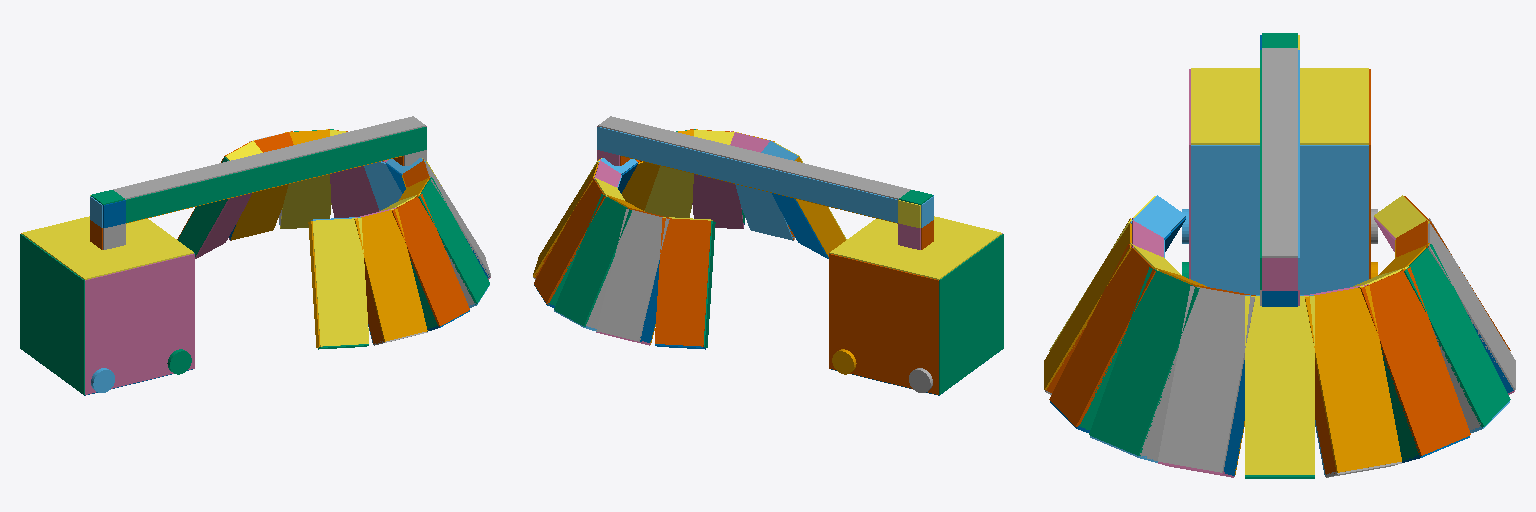
--- Facts derived from the render (not from the file) ---
The picture shows the robot from 3 angles, left to right: view 1: azimuth 30°, elevation 25°; view 2: azimuth 150°, elevation 25°; view 3: azimuth 270°, elevation 25°; orthographic projection.
Robot: robot — 111 links, 110 joints (1 continuous, 109 fixed); root link body; default pose: every joint at zero.
Links seen in each view (by area): view 1: body_sensor_0_right, body_sensor_0_stop, arm_sensor_0_right, hand_part_11_sensor_0_left, hand_part_12_sensor_0_left, body_sensor_0_top, hand_part_13_sensor_0_left, arm_sensor_0_top, hand_part_14_sensor_0_left, hand_part_3_sensor_0_right, hand_part_2_sensor_0_right, hand_part_4_sensor_0_right (+7 smaller); view 2: body_sensor_0_left, body_sensor_0_stop, arm_sensor_0_left, hand_part_5_sensor_0_left, hand_part_4_sensor_0_left, body_sensor_0_top, hand_part_3_sensor_0_left, arm_sensor_0_top, hand_part_2_sensor_0_left, hand_part_13_sensor_0_right, hand_part_14_sensor_0_right, hand_part_12_sensor_0_right (+7 smaller); view 3: body_sensor_0_start, hand_part_0_sensor_0_left, hand_part_1_sensor_0_left, hand_part_15_sensor_0_left, body_sensor_0_top, hand_part_2_sensor_0_left, hand_part_14_sensor_0_left, arm_sensor_0_top, hand_part_3_sensor_0_left, hand_part_13_sensor_0_left, hand_part_4_sensor_0_left, hand_part_12_sensor_0_left (+13 smaller).
Boxes of the visible links, x1,y1,x2,y2 form: body_sensor_0_right: (85, 254, 194, 394); body_sensor_0_stop: (20, 234, 84, 394); arm_sensor_0_right: (126, 127, 426, 222); hand_part_11_sensor_0_left: (313, 218, 368, 346); hand_part_12_sensor_0_left: (354, 209, 427, 341); body_sensor_0_top: (22, 216, 193, 279); hand_part_13_sensor_0_left: (392, 194, 469, 326); arm_sensor_0_top: (113, 116, 425, 199); hand_part_14_sensor_0_left: (418, 177, 489, 304); hand_part_3_sensor_0_right: (280, 174, 331, 228); hand_part_2_sensor_0_right: (330, 166, 379, 217); hand_part_4_sensor_0_right: (231, 184, 288, 240); body_sensor_0_left: (829, 254, 938, 394); body_sensor_0_stop: (939, 234, 1003, 394); arm_sensor_0_left: (597, 127, 897, 222); hand_part_5_sensor_0_left: (655, 218, 710, 346); hand_part_4_sensor_0_left: (596, 209, 669, 341); body_sensor_0_top: (830, 216, 1001, 279); hand_part_3_sensor_0_left: (554, 194, 631, 326); arm_sensor_0_top: (598, 116, 910, 199); hand_part_2_sensor_0_left: (534, 177, 605, 304); hand_part_13_sensor_0_right: (692, 174, 743, 228); hand_part_14_sensor_0_right: (644, 166, 693, 217); hand_part_12_sensor_0_right: (735, 184, 793, 240); body_sensor_0_start: (1191, 145, 1368, 294); hand_part_0_sensor_0_left: (1245, 296, 1314, 474); hand_part_1_sensor_0_left: (1305, 286, 1401, 472); hand_part_15_sensor_0_left: (1158, 286, 1254, 472); body_sensor_0_top: (1191, 68, 1368, 144); hand_part_2_sensor_0_left: (1360, 267, 1470, 455); hand_part_14_sensor_0_left: (1089, 267, 1199, 455); arm_sensor_0_top: (1262, 48, 1297, 257); hand_part_3_sensor_0_left: (1404, 244, 1510, 427); hand_part_13_sensor_0_left: (1049, 244, 1155, 426); hand_part_4_sensor_0_left: (1428, 218, 1515, 389); hand_part_12_sensor_0_left: (1044, 218, 1131, 389).
Size in the robot's own frame: 3.8 by 2.63 by 1.42 metres.
Geometry: primitives only (box / cylinder / sphere), no mesh files.

The robot description file, URDF, robot "robot":
<?xml version="1.0"?>
    <robot name="robot">


    <!-- body -->
    <link name="body">
        <inertial>
            <origin xyz="0 0 0" rpy="0 0 0"/>
            <mass value="100"/>
            <inertia ixx="15" ixy="0" ixz="0" iyy="15" iyz="0" izz="15"/>
        </inertial>
        <visual>
            <origin xyz="0 0 0" rpy="0 0 0"/>
            <geometry>
                <box size="1 1 1"/>
            </geometry>
        </visual>
        <collision>
            <origin xyz="0 0 0" rpy="0 0 0"/>
            <geometry>
                <box size="1 1 1"/>
            </geometry>
        </collision>
    </link>


    <!-- body_sensor_0_start -->
    <link name="body_sensor_0_start">
        <inertial>
            <origin xyz="0 0 0" rpy="0 0 0"/>
            <mass value="0"/>
            <inertia ixx="0" ixy="0" ixz="0" iyy="0" iyz="0" izz="0"/>
        </inertial>
        <visual>
            <origin xyz="0 0 0" rpy="0 0 0"/>
            <geometry>
                <box size="0.02 1 1"/>
            </geometry>
        </visual>
        <collision>
            <origin xyz="0 0 0" rpy="0 0 0"/>
            <geometry>
                <box size="0.02 1 1"/>
            </geometry>
        </collision>
    </link>
    <!-- Joint: body, body_sensor_0_start -->
    <joint name="body_body_sensor_0_start_joint" type="fixed">
        <parent link="body"/>
        <child link="body_sensor_0_start"/>
        <origin xyz="0.5 0 0"
                rpy="0 0 0"/>
        <axis xyz="0 0 1"/>
        
    </joint>


    <!-- body_sensor_0_stop -->
    <link name="body_sensor_0_stop">
        <inertial>
            <origin xyz="0 0 0" rpy="0 0 0"/>
            <mass value="0"/>
            <inertia ixx="0" ixy="0" ixz="0" iyy="0" iyz="0" izz="0"/>
        </inertial>
        <visual>
            <origin xyz="0 0 0" rpy="0 0 0"/>
            <geometry>
                <box size="0.02 1 1"/>
            </geometry>
        </visual>
        <collision>
            <origin xyz="0 0 0" rpy="0 0 0"/>
            <geometry>
                <box size="0.02 1 1"/>
            </geometry>
        </collision>
    </link>
    <!-- Joint: body, body_sensor_0_stop -->
    <joint name="body_body_sensor_0_stop_joint" type="fixed">
        <parent link="body"/>
        <child link="body_sensor_0_stop"/>
        <origin xyz="-0.5 0 0"
                rpy="0 0 0"/>
        <axis xyz="0 0 1"/>
        
    </joint>


    <!-- body_sensor_0_top -->
    <link name="body_sensor_0_top">
        <inertial>
            <origin xyz="0 0 0" rpy="0 0 0"/>
            <mass value="0"/>
            <inertia ixx="0" ixy="0" ixz="0" iyy="0" iyz="0" izz="0"/>
        </inertial>
        <visual>
            <origin xyz="0 0 0" rpy="0 0 0"/>
            <geometry>
                <box size="1.0 1 0.02"/>
            </geometry>
        </visual>
        <collision>
            <origin xyz="0 0 0" rpy="0 0 0"/>
            <geometry>
                <box size="1.0 1 0.02"/>
            </geometry>
        </collision>
    </link>
    <!-- Joint: body, body_sensor_0_top -->
    <joint name="body_body_sensor_0_top_joint" type="fixed">
        <parent link="body"/>
        <child link="body_sensor_0_top"/>
        <origin xyz="0 0 0.5"
                rpy="0 0 0"/>
        <axis xyz="0 0 1"/>
        
    </joint>


    <!-- body_sensor_0_bottom -->
    <link name="body_sensor_0_bottom">
        <inertial>
            <origin xyz="0 0 0" rpy="0 0 0"/>
            <mass value="0"/>
            <inertia ixx="0" ixy="0" ixz="0" iyy="0" iyz="0" izz="0"/>
        </inertial>
        <visual>
            <origin xyz="0 0 0" rpy="0 0 0"/>
            <geometry>
                <box size="1.0 1 0.02"/>
            </geometry>
        </visual>
        <collision>
            <origin xyz="0 0 0" rpy="0 0 0"/>
            <geometry>
                <box size="1.0 1 0.02"/>
            </geometry>
        </collision>
    </link>
    <!-- Joint: body, body_sensor_0_bottom -->
    <joint name="body_body_sensor_0_bottom_joint" type="fixed">
        <parent link="body"/>
        <child link="body_sensor_0_bottom"/>
        <origin xyz="0 0 -0.5"
                rpy="0 0 0"/>
        <axis xyz="0 0 1"/>
        
    </joint>


    <!-- body_sensor_0_left -->
    <link name="body_sensor_0_left">
        <inertial>
            <origin xyz="0 0 0" rpy="0 0 0"/>
            <mass value="0"/>
            <inertia ixx="0" ixy="0" ixz="0" iyy="0" iyz="0" izz="0"/>
        </inertial>
        <visual>
            <origin xyz="0 0 0" rpy="0 0 0"/>
            <geometry>
                <box size="1.0 0.02 1"/>
            </geometry>
        </visual>
        <collision>
            <origin xyz="0 0 0" rpy="0 0 0"/>
            <geometry>
                <box size="1.0 0.02 1"/>
            </geometry>
        </collision>
    </link>
    <!-- Joint: body, body_sensor_0_left -->
    <joint name="body_body_sensor_0_left_joint" type="fixed">
        <parent link="body"/>
        <child link="body_sensor_0_left"/>
        <origin xyz="0 0.5 0"
                rpy="0 0 0"/>
        <axis xyz="0 0 1"/>
        
    </joint>


    <!-- body_sensor_0_right -->
    <link name="body_sensor_0_right">
        <inertial>
            <origin xyz="0 0 0" rpy="0 0 0"/>
            <mass value="0"/>
            <inertia ixx="0" ixy="0" ixz="0" iyy="0" iyz="0" izz="0"/>
        </inertial>
        <visual>
            <origin xyz="0 0 0" rpy="0 0 0"/>
            <geometry>
                <box size="1.0 0.02 1"/>
            </geometry>
        </visual>
        <collision>
            <origin xyz="0 0 0" rpy="0 0 0"/>
            <geometry>
                <box size="1.0 0.02 1"/>
            </geometry>
        </collision>
    </link>
    <!-- Joint: body, body_sensor_0_right -->
    <joint name="body_body_sensor_0_right_joint" type="fixed">
        <parent link="body"/>
        <child link="body_sensor_0_right"/>
        <origin xyz="0 -0.5 0"
                rpy="0 0 0"/>
        <axis xyz="0 0 1"/>
        
    </joint>


    <!-- back_left_wheel -->
    <link name="back_left_wheel">
        <inertial>
            <origin xyz="0 0 0" rpy="0 0 0"/>
            <mass value="0.1"/>
            <inertia ixx="0.0005" ixy="0" ixz="0" iyy="0.0005" iyz="0" izz="0.0005"/>
        </inertial>
        <visual>
            <origin xyz="0 0 0" rpy="0 0 0"/>
            <geometry>
                <cylinder radius="0.1" length="0.1"/>
            </geometry>
        </visual>
        <collision>
            <origin xyz="0 0 0" rpy="0 0 0"/>
            <geometry>
                <cylinder radius="0.1" length="0.1"/>
            </geometry>
        </collision>
    </link>
    <!-- Joint: body, back_left_wheel -->
    <joint name="body_back_left_wheel_joint" type="fixed">
        <parent link="body"/>
        <child link="back_left_wheel"/>
        <origin xyz="-0.35 0.5 -0.4"
                rpy="1.5708 0 0"/>
        <axis xyz="1 0 0"/>
        
    </joint>


    <!-- from_left_wheel -->
    <link name="from_left_wheel">
        <inertial>
            <origin xyz="0 0 0" rpy="0 0 0"/>
            <mass value="0.1"/>
            <inertia ixx="0.0005" ixy="0" ixz="0" iyy="0.0005" iyz="0" izz="0.0005"/>
        </inertial>
        <visual>
            <origin xyz="0 0 0" rpy="0 0 0"/>
            <geometry>
                <cylinder radius="0.1" length="0.1"/>
            </geometry>
        </visual>
        <collision>
            <origin xyz="0 0 0" rpy="0 0 0"/>
            <geometry>
                <cylinder radius="0.1" length="0.1"/>
            </geometry>
        </collision>
    </link>
    <!-- Joint: body, from_left_wheel -->
    <joint name="body_from_left_wheel_joint" type="fixed">
        <parent link="body"/>
        <child link="from_left_wheel"/>
        <origin xyz="0.35 0.5 -0.4"
                rpy="1.5708 0 0"/>
        <axis xyz="1 0 0"/>
        
    </joint>


    <!-- back_right_wheel -->
    <link name="back_right_wheel">
        <inertial>
            <origin xyz="0 0 0" rpy="0 0 0"/>
            <mass value="0.1"/>
            <inertia ixx="0.0005" ixy="0" ixz="0" iyy="0.0005" iyz="0" izz="0.0005"/>
        </inertial>
        <visual>
            <origin xyz="0 0 0" rpy="0 0 0"/>
            <geometry>
                <cylinder radius="0.1" length="0.1"/>
            </geometry>
        </visual>
        <collision>
            <origin xyz="0 0 0" rpy="0 0 0"/>
            <geometry>
                <cylinder radius="0.1" length="0.1"/>
            </geometry>
        </collision>
    </link>
    <!-- Joint: body, back_right_wheel -->
    <joint name="body_back_right_wheel_joint" type="fixed">
        <parent link="body"/>
        <child link="back_right_wheel"/>
        <origin xyz="-0.35 -0.5 -0.4"
                rpy="1.5708 0 0"/>
        <axis xyz="1 0 0"/>
        
    </joint>


    <!-- from_right_wheel -->
    <link name="from_right_wheel">
        <inertial>
            <origin xyz="0 0 0" rpy="0 0 0"/>
            <mass value="0.1"/>
            <inertia ixx="0.0005" ixy="0" ixz="0" iyy="0.0005" iyz="0" izz="0.0005"/>
        </inertial>
        <visual>
            <origin xyz="0 0 0" rpy="0 0 0"/>
            <geometry>
                <cylinder radius="0.1" length="0.1"/>
            </geometry>
        </visual>
        <collision>
            <origin xyz="0 0 0" rpy="0 0 0"/>
            <geometry>
                <cylinder radius="0.1" length="0.1"/>
            </geometry>
        </collision>
    </link>
    <!-- Joint: body, from_right_wheel -->
    <joint name="body_from_right_wheel_joint" type="fixed">
        <parent link="body"/>
        <child link="from_right_wheel"/>
        <origin xyz="0.35 -0.5 -0.4"
                rpy="1.5708 0 0"/>
        <axis xyz="1 0 0"/>
        
    </joint>


    <!-- head_part -->
    <link name="head_part">
        <inertial>
            <origin xyz="0 0 0" rpy="0 0 0"/>
            <mass value="2"/>
            <inertia ixx="0.01" ixy="0" ixz="0" iyy="0.01" iyz="0" izz="0.01"/>
        </inertial>
        <visual>
            <origin xyz="0 0 0" rpy="0 0 0"/>
            <geometry>
                <box size="0.2 0.2 0.2"/>
            </geometry>
        </visual>
        <collision>
            <origin xyz="0 0 0" rpy="0 0 0"/>
            <geometry>
                <box size="0.2 0.2 0.2"/>
            </geometry>
        </collision>
    </link>


    <!-- head_part_sensor_0_start -->
    <link name="head_part_sensor_0_start">
        <inertial>
            <origin xyz="0 0 0" rpy="0 0 0"/>
            <mass value="0"/>
            <inertia ixx="0" ixy="0" ixz="0" iyy="0" iyz="0" izz="0"/>
        </inertial>
        <visual>
            <origin xyz="0 0 0" rpy="0 0 0"/>
            <geometry>
                <box size="0.02 0.2 0.2"/>
            </geometry>
        </visual>
        <collision>
            <origin xyz="0 0 0" rpy="0 0 0"/>
            <geometry>
                <box size="0.02 0.2 0.2"/>
            </geometry>
        </collision>
    </link>
    <!-- Joint: head_part, head_part_sensor_0_start -->
    <joint name="head_part_head_part_sensor_0_start_joint" type="fixed">
        <parent link="head_part"/>
        <child link="head_part_sensor_0_start"/>
        <origin xyz="0.1 0 0"
                rpy="0 0 0"/>
        <axis xyz="0 0 1"/>
        
    </joint>


    <!-- head_part_sensor_0_stop -->
    <link name="head_part_sensor_0_stop">
        <inertial>
            <origin xyz="0 0 0" rpy="0 0 0"/>
            <mass value="0"/>
            <inertia ixx="0" ixy="0" ixz="0" iyy="0" iyz="0" izz="0"/>
        </inertial>
        <visual>
            <origin xyz="0 0 0" rpy="0 0 0"/>
            <geometry>
                <box size="0.02 0.2 0.2"/>
            </geometry>
        </visual>
        <collision>
            <origin xyz="0 0 0" rpy="0 0 0"/>
            <geometry>
                <box size="0.02 0.2 0.2"/>
            </geometry>
        </collision>
    </link>
    <!-- Joint: head_part, head_part_sensor_0_stop -->
    <joint name="head_part_head_part_sensor_0_stop_joint" type="fixed">
        <parent link="head_part"/>
        <child link="head_part_sensor_0_stop"/>
        <origin xyz="-0.1 0 0"
                rpy="0 0 0"/>
        <axis xyz="0 0 1"/>
        
    </joint>


    <!-- head_part_sensor_0_left -->
    <link name="head_part_sensor_0_left">
        <inertial>
            <origin xyz="0 0 0" rpy="0 0 0"/>
            <mass value="0"/>
            <inertia ixx="0" ixy="0" ixz="0" iyy="0" iyz="0" izz="0"/>
        </inertial>
        <visual>
            <origin xyz="0 0 0" rpy="0 0 0"/>
            <geometry>
                <box size="0.2 0.02 0.2"/>
            </geometry>
        </visual>
        <collision>
            <origin xyz="0 0 0" rpy="0 0 0"/>
            <geometry>
                <box size="0.2 0.02 0.2"/>
            </geometry>
        </collision>
    </link>
    <!-- Joint: head_part, head_part_sensor_0_left -->
    <joint name="head_part_head_part_sensor_0_left_joint" type="fixed">
        <parent link="head_part"/>
        <child link="head_part_sensor_0_left"/>
        <origin xyz="0 0.1 0"
                rpy="0 0 0"/>
        <axis xyz="0 0 1"/>
        
    </joint>


    <!-- head_part_sensor_0_right -->
    <link name="head_part_sensor_0_right">
        <inertial>
            <origin xyz="0 0 0" rpy="0 0 0"/>
            <mass value="0"/>
            <inertia ixx="0" ixy="0" ixz="0" iyy="0" iyz="0" izz="0"/>
        </inertial>
        <visual>
            <origin xyz="0 0 0" rpy="0 0 0"/>
            <geometry>
                <box size="0.2 0.02 0.2"/>
            </geometry>
        </visual>
        <collision>
            <origin xyz="0 0 0" rpy="0 0 0"/>
            <geometry>
                <box size="0.2 0.02 0.2"/>
            </geometry>
        </collision>
    </link>
    <!-- Joint: head_part, head_part_sensor_0_right -->
    <joint name="head_part_head_part_sensor_0_right_joint" type="fixed">
        <parent link="head_part"/>
        <child link="head_part_sensor_0_right"/>
        <origin xyz="0 -0.1 0"
                rpy="0 0 0"/>
        <axis xyz="0 0 1"/>
        
    </joint>
    <!-- Joint: body, head_part -->
    <joint name="body_head_part_joint" type="fixed">
        <parent link="body"/>
        <child link="head_part"/>
        <origin xyz="0 0 0.6"
                rpy="0 0 0"/>
        <axis xyz="0 0 1"/>
        
    </joint>


    <!-- joint_1 -->
    <link name="joint_1">
        <inertial>
            <origin xyz="0 0 0" rpy="0 0 0"/>
            <mass value="2"/>
            <inertia ixx="0.01" ixy="0" ixz="0" iyy="0.01" iyz="0" izz="0.01"/>
        </inertial>
        <visual>
            <origin xyz="0 0 0" rpy="0 0 0"/>
            <geometry>
                <box size="0.2 0.2 0.2"/>
            </geometry>
        </visual>
        <collision>
            <origin xyz="0 0 0" rpy="0 0 0"/>
            <geometry>
                <box size="0.2 0.2 0.2"/>
            </geometry>
        </collision>
    </link>


    <!-- joint_1_sensor_0_stop -->
    <link name="joint_1_sensor_0_stop">
        <inertial>
            <origin xyz="0 0 0" rpy="0 0 0"/>
            <mass value="0"/>
            <inertia ixx="0" ixy="0" ixz="0" iyy="0" iyz="0" izz="0"/>
        </inertial>
        <visual>
            <origin xyz="0 0 0" rpy="0 0 0"/>
            <geometry>
                <box size="0.02 0.2 0.2"/>
            </geometry>
        </visual>
        <collision>
            <origin xyz="0 0 0" rpy="0 0 0"/>
            <geometry>
                <box size="0.02 0.2 0.2"/>
            </geometry>
        </collision>
    </link>
    <!-- Joint: joint_1, joint_1_sensor_0_stop -->
    <joint name="joint_1_joint_1_sensor_0_stop_joint" type="fixed">
        <parent link="joint_1"/>
        <child link="joint_1_sensor_0_stop"/>
        <origin xyz="-0.1 0 0"
                rpy="0 0 0"/>
        <axis xyz="0 1 0"/>
        
    </joint>


    <!-- joint_1_sensor_0_top -->
    <link name="joint_1_sensor_0_top">
        <inertial>
            <origin xyz="0 0 0" rpy="0 0 0"/>
            <mass value="0"/>
            <inertia ixx="0" ixy="0" ixz="0" iyy="0" iyz="0" izz="0"/>
        </inertial>
        <visual>
            <origin xyz="0 0 0" rpy="0 0 0"/>
            <geometry>
                <box size="0.2 0.2 0.02"/>
            </geometry>
        </visual>
        <collision>
            <origin xyz="0 0 0" rpy="0 0 0"/>
            <geometry>
                <box size="0.2 0.2 0.02"/>
            </geometry>
        </collision>
    </link>
    <!-- Joint: joint_1, joint_1_sensor_0_top -->
    <joint name="joint_1_joint_1_sensor_0_top_joint" type="fixed">
        <parent link="joint_1"/>
        <child link="joint_1_sensor_0_top"/>
        <origin xyz="0 0 0.1"
                rpy="0 0 0"/>
        <axis xyz="0 1 0"/>
        
    </joint>


    <!-- joint_1_sensor_0_left -->
    <link name="joint_1_sensor_0_left">
        <inertial>
            <origin xyz="0 0 0" rpy="0 0 0"/>
            <mass value="0"/>
            <inertia ixx="0" ixy="0" ixz="0" iyy="0" iyz="0" izz="0"/>
        </inertial>
        <visual>
            <origin xyz="0 0 0" rpy="0 0 0"/>
            <geometry>
                <box size="0.2 0.02 0.2"/>
            </geometry>
        </visual>
        <collision>
            <origin xyz="0 0 0" rpy="0 0 0"/>
            <geometry>
                <box size="0.2 0.02 0.2"/>
            </geometry>
        </collision>
    </link>
    <!-- Joint: joint_1, joint_1_sensor_0_left -->
    <joint name="joint_1_joint_1_sensor_0_left_joint" type="fixed">
        <parent link="joint_1"/>
        <child link="joint_1_sensor_0_left"/>
        <origin xyz="0 0.1 0"
                rpy="0 0 0"/>
        <axis xyz="0 1 0"/>
        
    </joint>


    <!-- joint_1_sensor_0_right -->
    <link name="joint_1_sensor_0_right">
        <inertial>
            <origin xyz="0 0 0" rpy="0 0 0"/>
            <mass value="0"/>
            <inertia ixx="0" ixy="0" ixz="0" iyy="0" iyz="0" izz="0"/>
        </inertial>
        <visual>
            <origin xyz="0 0 0" rpy="0 0 0"/>
            <geometry>
                <box size="0.2 0.02 0.2"/>
            </geometry>
        </visual>
        <collision>
            <origin xyz="0 0 0" rpy="0 0 0"/>
            <geometry>
                <box size="0.2 0.02 0.2"/>
            </geometry>
        </collision>
    </link>
    <!-- Joint: joint_1, joint_1_sensor_0_right -->
    <joint name="joint_1_joint_1_sensor_0_right_joint" type="fixed">
        <parent link="joint_1"/>
        <child link="joint_1_sensor_0_right"/>
        <origin xyz="0 -0.1 0"
                rpy="0 0 0"/>
        <axis xyz="0 1 0"/>
        
    </joint>
    <!-- Joint: head_part, joint_1 -->
    <joint name="head_part_joint_1_joint" type="continuous">
        <parent link="head_part"/>
        <child link="joint_1"/>
        <origin xyz="0 0 0.2"
                rpy="0 0 0"/>
        <axis xyz="0 1 0"/>
        <limit lower="-1.5707963267948966" upper="0" effort="999" velocity="999"/>
    </joint>


    <!-- arm -->
    <link name="arm">
        <inertial>
            <origin xyz="0 0 0" rpy="0 0 0"/>
            <mass value="2"/>
            <inertia ixx="0.01" ixy="0" ixz="0" iyy="1.25" iyz="0" izz="1.25"/>
        </inertial>
        <visual>
            <origin xyz="0 0 0" rpy="0 0 0"/>
            <geometry>
                <box size="2.75 0.2 0.2"/>
            </geometry>
        </visual>
        <collision>
            <origin xyz="0 0 0" rpy="0 0 0"/>
            <geometry>
                <box size="2.75 0.2 0.2"/>
            </geometry>
        </collision>
    </link>


    <!-- arm_sensor_0_start -->
    <link name="arm_sensor_0_start">
        <inertial>
            <origin xyz="0 0 0" rpy="0 0 0"/>
            <mass value="0"/>
            <inertia ixx="0" ixy="0" ixz="0" iyy="0" iyz="0" izz="0"/>
        </inertial>
        <visual>
            <origin xyz="0 0 0" rpy="0 0 0"/>
            <geometry>
                <box size="0.02 0.2 0.2"/>
            </geometry>
        </visual>
        <collision>
            <origin xyz="0 0 0" rpy="0 0 0"/>
            <geometry>
                <box size="0.02 0.2 0.2"/>
            </geometry>
        </collision>
    </link>
    <!-- Joint: arm, arm_sensor_0_start -->
    <joint name="arm_arm_sensor_0_start_joint" type="fixed">
        <parent link="arm"/>
        <child link="arm_sensor_0_start"/>
        <origin xyz="1.375 0 0"
                rpy="0 0 0"/>
        <axis xyz="0 1 0"/>
        
    </joint>


    <!-- arm_sensor_0_top -->
    <link name="arm_sensor_0_top">
        <inertial>
            <origin xyz="0 0 0" rpy="0 0 0"/>
            <mass value="0"/>
            <inertia ixx="0" ixy="0" ixz="0" iyy="0" iyz="0" izz="0"/>
        </inertial>
        <visual>
            <origin xyz="0 0 0" rpy="0 0 0"/>
            <geometry>
                <box size="2.75 0.2 0.02"/>
            </geometry>
        </visual>
        <collision>
            <origin xyz="0 0 0" rpy="0 0 0"/>
            <geometry>
                <box size="2.75 0.2 0.02"/>
            </geometry>
        </collision>
    </link>
    <!-- Joint: arm, arm_sensor_0_top -->
    <joint name="arm_arm_sensor_0_top_joint" type="fixed">
        <parent link="arm"/>
        <child link="arm_sensor_0_top"/>
        <origin xyz="0 0 0.1"
                rpy="0 0 0"/>
        <axis xyz="0 1 0"/>
        
    </joint>


    <!-- arm_sensor_0_bottom -->
    <link name="arm_sensor_0_bottom">
        <inertial>
            <origin xyz="0 0 0" rpy="0 0 0"/>
            <mass value="0"/>
            <inertia ixx="0" ixy="0" ixz="0" iyy="0" iyz="0" izz="0"/>
        </inertial>
        <visual>
            <origin xyz="0 0 0" rpy="0 0 0"/>
            <geometry>
                <box size="2.75 0.2 0.02"/>
            </geometry>
        </visual>
        <collision>
            <origin xyz="0 0 0" rpy="0 0 0"/>
            <geometry>
                <box size="2.75 0.2 0.02"/>
            </geometry>
        </collision>
    </link>
    <!-- Joint: arm, arm_sensor_0_bottom -->
    <joint name="arm_arm_sensor_0_bottom_joint" type="fixed">
        <parent link="arm"/>
        <child link="arm_sensor_0_bottom"/>
        <origin xyz="0 0 -0.1"
                rpy="0 0 0"/>
        <axis xyz="0 1 0"/>
        
    </joint>


    <!-- arm_sensor_0_left -->
    <link name="arm_sensor_0_left">
        <inertial>
            <origin xyz="0 0 0" rpy="0 0 0"/>
            <mass value="0"/>
            <inertia ixx="0" ixy="0" ixz="0" iyy="0" iyz="0" izz="0"/>
        </inertial>
        <visual>
            <origin xyz="0 0 0" rpy="0 0 0"/>
            <geometry>
                <box size="2.75 0.02 0.2"/>
            </geometry>
        </visual>
        <collision>
            <origin xyz="0 0 0" rpy="0 0 0"/>
            <geometry>
                <box size="2.75 0.02 0.2"/>
            </geometry>
        </collision>
    </link>
    <!-- Joint: arm, arm_sensor_0_left -->
    <joint name="arm_arm_sensor_0_left_joint" type="fixed">
        <parent link="arm"/>
        <child link="arm_sensor_0_left"/>
        <origin xyz="0 0.1 0"
                rpy="0 0 0"/>
        <axis xyz="0 1 0"/>
        
    </joint>


    <!-- arm_sensor_0_right -->
    <link name="arm_sensor_0_right">
        <inertial>
            <origin xyz="0 0 0" rpy="0 0 0"/>
            <mass value="0"/>
            <inertia ixx="0" ixy="0" ixz="0" iyy="0" iyz="0" izz="0"/>
        </inertial>
        <visual>
            <origin xyz="0 0 0" rpy="0 0 0"/>
            <geometry>
                <box size="2.75 0.02 0.2"/>
            </geometry>
        </visual>
        <collision>
            <origin xyz="0 0 0" rpy="0 0 0"/>
            <geometry>
                <box size="2.75 0.02 0.2"/>
            </geometry>
        </collision>
    </link>
    <!-- Joint: arm, arm_sensor_0_right -->
    <joint name="arm_arm_sensor_0_right_joint" type="fixed">
        <parent link="arm"/>
        <child link="arm_sensor_0_right"/>
        <origin xyz="0 -0.1 0"
                rpy="0 0 0"/>
        <axis xyz="0 1 0"/>
        
    </joint>
    <!-- Joint: joint_1, arm -->
    <joint name="joint_1_arm_joint" type="fixed">
        <parent link="joint_1"/>
        <child link="arm"/>
        <origin xyz="1.475 0 0"
                rpy="0 0 0"/>
        <axis xyz="0 1 0"/>
        
    </joint>


    <!-- wrist -->
    <link name="wrist">
        <inertial>
            <origin xyz="0 0 0" rpy="0 0 0"/>
            <mass value="2"/>
            <inertia ixx="0.01" ixy="0" ixz="0" iyy="0.01" iyz="0" izz="0.01"/>
        </inertial>
        <visual>
            <origin xyz="0 0 0" rpy="0 0 0"/>
            <geometry>
                <box size="0.2 0.2 0.1"/>
            </geometry>
        </visual>
        <collision>
            <origin xyz="0 0 0" rpy="0 0 0"/>
            <geometry>
                <box size="0.2 0.2 0.1"/>
            </geometry>
        </collision>
    </link>


    <!-- wrist_sensor_0_start -->
    <link name="wrist_sensor_0_start">
        <inertial>
            <origin xyz="0 0 0" rpy="0 0 0"/>
            <mass value="0"/>
            <inertia ixx="0" ixy="0" ixz="0" iyy="0" iyz="0" izz="0"/>
        </inertial>
        <visual>
            <origin xyz="0 0 0" rpy="0 0 0"/>
            <geometry>
                <box size="0.02 0.2 0.1"/>
            </geometry>
        </visual>
        <collision>
            <origin xyz="0 0 0" rpy="0 0 0"/>
            <geometry>
                <box size="0.02 0.2 0.1"/>
            </geometry>
        </collision>
    </link>
    <!-- Joint: wrist, wrist_sensor_0_start -->
    <joint name="wrist_wrist_sensor_0_start_joint" type="fixed">
        <parent link="wrist"/>
        <child link="wrist_sensor_0_start"/>
        <origin xyz="0.1 0 0"
                rpy="0 0 0"/>
        <axis xyz="0 1 0"/>
        
    </joint>


    <!-- wrist_sensor_0_stop -->
    <link name="wrist_sensor_0_stop">
        <inertial>
            <origin xyz="0 0 0" rpy="0 0 0"/>
            <mass value="0"/>
            <inertia ixx="0" ixy="0" ixz="0" iyy="0" iyz="0" izz="0"/>
        </inertial>
        <visual>
            <origin xyz="0 0 0" rpy="0 0 0"/>
            <geometry>
                <box size="0.02 0.2 0.1"/>
            </geometry>
        </visual>
        <collision>
            <origin xyz="0 0 0" rpy="0 0 0"/>
            <geometry>
                <box size="0.02 0.2 0.1"/>
            </geometry>
        </collision>
    </link>
    <!-- Joint: wrist, wrist_sensor_0_stop -->
    <joint name="wrist_wrist_sensor_0_stop_joint" type="fixed">
        <parent link="wrist"/>
        <child link="wrist_sensor_0_stop"/>
        <origin xyz="-0.1 0 0"
                rpy="0 0 0"/>
        <axis xyz="0 1 0"/>
        
    </joint>


    <!-- wrist_sensor_0_left -->
    <link name="wrist_sensor_0_left">
        <inertial>
            <origin xyz="0 0 0" rpy="0 0 0"/>
            <mass value="0"/>
            <inertia ixx="0" ixy="0" ixz="0" iyy="0" iyz="0" izz="0"/>
        </inertial>
        <visual>
            <origin xyz="0 0 0" rpy="0 0 0"/>
            <geometry>
                <box size="0.2 0.02 0.1"/>
            </geometry>
        </visual>
        <collision>
            <origin xyz="0 0 0" rpy="0 0 0"/>
            <geometry>
                <box size="0.2 0.02 0.1"/>
            </geometry>
        </collision>
    </link>
    <!-- Joint: wrist, wrist_sensor_0_left -->
    <joint name="wrist_wrist_sensor_0_left_joint" type="fixed">
        <parent link="wrist"/>
        <child link="wrist_sensor_0_left"/>
        <origin xyz="0 0.1 0"
                rpy="0 0 0"/>
        <axis xyz="0 1 0"/>
        
    </joint>


    <!-- wrist_sensor_0_right -->
    <link name="wrist_sensor_0_right">
        <inertial>
            <origin xyz="0 0 0" rpy="0 0 0"/>
            <mass value="0"/>
            <inertia ixx="0" ixy="0" ixz="0" iyy="0" iyz="0" izz="0"/>
        </inertial>
        <visual>
            <origin xyz="0 0 0" rpy="0 0 0"/>
            <geometry>
                <box size="0.2 0.02 0.1"/>
            </geometry>
        </visual>
        <collision>
            <origin xyz="0 0 0" rpy="0 0 0"/>
            <geometry>
                <box size="0.2 0.02 0.1"/>
            </geometry>
        </collision>
    </link>
    <!-- Joint: wrist, wrist_sensor_0_right -->
    <joint name="wrist_wrist_sensor_0_right_joint" type="fixed">
        <parent link="wrist"/>
        <child link="wrist_sensor_0_right"/>
        <origin xyz="0 -0.1 0"
                rpy="0 0 0"/>
        <axis xyz="0 1 0"/>
        
    </joint>
    <!-- Joint: arm, wrist -->
    <joint name="arm_wrist_joint" type="fixed">
        <parent link="arm"/>
        <child link="wrist"/>
        <origin xyz="1.275 0 -0.15000000000000002"
                rpy="0 0 0"/>
        <axis xyz="0 1 0"/>
        
    </joint>


    <!-- hand_part_0 -->
    <link name="hand_part_0">
        <inertial>
            <origin xyz="0 0 0" rpy="0 0 0"/>
            <mass value="2"/>
            <inertia ixx="0.2" ixy="0" ixz="0" iyy="0.2" iyz="0" izz="0.03"/>
        </inertial>
        <visual>
            <origin xyz="0 0 0" rpy="0 0 0"/>
            <geometry>
                <box size="0.3901806440322565 0.2 1"/>
            </geometry>
        </visual>
        <collision>
            <origin xyz="0 0 0" rpy="0 0 0"/>
            <geometry>
                <box size="0.3901806440322565 0.2 1"/>
            </geometry>
        </collision>
    </link>


    <!-- hand_part_0_sensor_0_top -->
    <link name="hand_part_0_sensor_0_top">
        <inertial>
            <origin xyz="0 0 0" rpy="0 0 0"/>
            <mass value="0"/>
            <inertia ixx="0" ixy="0" ixz="0" iyy="0" iyz="0" izz="0"/>
        </inertial>
        <visual>
            <origin xyz="0 0 0" rpy="0 0 0"/>
            <geometry>
                <box size="0.3901806440322565 0.2 0.02"/>
            </geometry>
        </visual>
        <collision>
            <origin xyz="0 0 0" rpy="0 0 0"/>
            <geometry>
                <box size="0.3901806440322565 0.2 0.02"/>
            </geometry>
        </collision>
    </link>
    <!-- Joint: hand_part_0, hand_part_0_sensor_0_top -->
    <joint name="hand_part_0_hand_part_0_sensor_0_top_joint" type="fixed">
        <parent link="hand_part_0"/>
        <child link="hand_part_0_sensor_0_top"/>
        <origin xyz="0 0 0.5"
                rpy="0 0 0"/>
        <axis xyz="0 1 0"/>
        
    </joint>


    <!-- hand_part_0_sensor_0_bottom -->
    <link name="hand_part_0_sensor_0_bottom">
        <inertial>
            <origin xyz="0 0 0" rpy="0 0 0"/>
            <mass value="0"/>
            <inertia ixx="0" ixy="0" ixz="0" iyy="0" iyz="0" izz="0"/>
        </inertial>
        <visual>
            <origin xyz="0 0 0" rpy="0 0 0"/>
            <geometry>
                <box size="0.3901806440322565 0.2 0.02"/>
            </geometry>
        </visual>
        <collision>
            <origin xyz="0 0 0" rpy="0 0 0"/>
            <geometry>
                <box size="0.3901806440322565 0.2 0.02"/>
            </geometry>
        </collision>
    </link>
    <!-- Joint: hand_part_0, hand_part_0_sensor_0_bottom -->
    <joint name="hand_part_0_hand_part_0_sensor_0_bottom_joint" type="fixed">
        <parent link="hand_part_0"/>
        <child link="hand_part_0_sensor_0_bottom"/>
        <origin xyz="0 0 -0.5"
                rpy="0 0 0"/>
        <axis xyz="0 1 0"/>
        
    </joint>


    <!-- hand_part_0_sensor_0_left -->
    <link name="hand_part_0_sensor_0_left">
        <inertial>
            <origin xyz="0 0 0" rpy="0 0 0"/>
            <mass value="0"/>
            <inertia ixx="0" ixy="0" ixz="0" iyy="0" iyz="0" izz="0"/>
        </inertial>
        <visual>
            <origin xyz="0 0 0" rpy="0 0 0"/>
            <geometry>
                <box size="0.3901806440322565 0.02 1"/>
            </geometry>
        </visual>
        <collision>
            <origin xyz="0 0 0" rpy="0 0 0"/>
            <geometry>
                <box size="0.3901806440322565 0.02 1"/>
            </geometry>
        </collision>
    </link>
    <!-- Joint: hand_part_0, hand_part_0_sensor_0_left -->
    <joint name="hand_part_0_hand_part_0_sensor_0_left_joint" type="fixed">
        <parent link="hand_part_0"/>
        <child link="hand_part_0_sensor_0_left"/>
        <origin xyz="0 0.1 0"
                rpy="0 0 0"/>
        <axis xyz="0 1 0"/>
        
    </joint>


    <!-- hand_part_0_sensor_0_right -->
    <link name="hand_part_0_sensor_0_right">
        <inertial>
            <origin xyz="0 0 0" rpy="0 0 0"/>
            <mass value="0"/>
            <inertia ixx="0" ixy="0" ixz="0" iyy="0" iyz="0" izz="0"/>
        </inertial>
        <visual>
            <origin xyz="0 0 0" rpy="0 0 0"/>
            <geometry>
                <box size="0.3901806440322565 0.02 1"/>
            </geometry>
        </visual>
        <collision>
            <origin xyz="0 0 0" rpy="0 0 0"/>
            <geometry>
                <box size="0.3901806440322565 0.02 1"/>
            </geometry>
        </collision>
    </link>
    <!-- Joint: hand_part_0, hand_part_0_sensor_0_right -->
    <joint name="hand_part_0_hand_part_0_sensor_0_right_joint" type="fixed">
        <parent link="hand_part_0"/>
        <child link="hand_part_0_sensor_0_right"/>
        <origin xyz="0 -0.1 0"
                rpy="0 0 0"/>
        <axis xyz="0 1 0"/>
        
    </joint>
    <!-- Joint: wrist, hand_part_0 -->
    <joint name="wrist_hand_part_0_joint" type="fixed">
        <parent link="wrist"/>
        <child link="hand_part_0"/>
        <origin xyz="0.2 0.0 -0.5"
                rpy="0.5 0 -1.5707963267948966"/>
        <axis xyz="0 1 0"/>
        
    </joint>


    <!-- hand_part_1 -->
    <link name="hand_part_1">
        <inertial>
            <origin xyz="0 0 0" rpy="0 0 0"/>
            <mass value="2"/>
            <inertia ixx="0.2" ixy="0" ixz="0" iyy="0.2" iyz="0" izz="0.03"/>
        </inertial>
        <visual>
            <origin xyz="0 0 0" rpy="0 0 0"/>
            <geometry>
                <box size="0.3901806440322565 0.2 1"/>
            </geometry>
        </visual>
        <collision>
            <origin xyz="0 0 0" rpy="0 0 0"/>
            <geometry>
                <box size="0.3901806440322565 0.2 1"/>
            </geometry>
        </collision>
    </link>


    <!-- hand_part_1_sensor_0_top -->
    <link name="hand_part_1_sensor_0_top">
        <inertial>
            <origin xyz="0 0 0" rpy="0 0 0"/>
            <mass value="0"/>
            <inertia ixx="0" ixy="0" ixz="0" iyy="0" iyz="0" izz="0"/>
        </inertial>
        <visual>
            <origin xyz="0 0 0" rpy="0 0 0"/>
            <geometry>
                <box size="0.3901806440322565 0.2 0.02"/>
            </geometry>
        </visual>
        <collision>
            <origin xyz="0 0 0" rpy="0 0 0"/>
            <geometry>
                <box size="0.3901806440322565 0.2 0.02"/>
            </geometry>
        </collision>
    </link>
    <!-- Joint: hand_part_1, hand_part_1_sensor_0_top -->
    <joint name="hand_part_1_hand_part_1_sensor_0_top_joint" type="fixed">
        <parent link="hand_part_1"/>
        <child link="hand_part_1_sensor_0_top"/>
        <origin xyz="0 0 0.5"
                rpy="0 0 0"/>
        <axis xyz="0 1 0"/>
        
    </joint>


    <!-- hand_part_1_sensor_0_bottom -->
    <link name="hand_part_1_sensor_0_bottom">
        <inertial>
            <origin xyz="0 0 0" rpy="0 0 0"/>
            <mass value="0"/>
            <inertia ixx="0" ixy="0" ixz="0" iyy="0" iyz="0" izz="0"/>
        </inertial>
        <visual>
            <origin xyz="0 0 0" rpy="0 0 0"/>
            <geometry>
                <box size="0.3901806440322565 0.2 0.02"/>
            </geometry>
        </visual>
        <collision>
            <origin xyz="0 0 0" rpy="0 0 0"/>
            <geometry>
                <box size="0.3901806440322565 0.2 0.02"/>
            </geometry>
        </collision>
    </link>
    <!-- Joint: hand_part_1, hand_part_1_sensor_0_bottom -->
    <joint name="hand_part_1_hand_part_1_sensor_0_bottom_joint" type="fixed">
        <parent link="hand_part_1"/>
        <child link="hand_part_1_sensor_0_bottom"/>
        <origin xyz="0 0 -0.5"
                rpy="0 0 0"/>
        <axis xyz="0 1 0"/>
        
    </joint>


    <!-- hand_part_1_sensor_0_left -->
    <link name="hand_part_1_sensor_0_left">
        <inertial>
            <origin xyz="0 0 0" rpy="0 0 0"/>
            <mass value="0"/>
            <inertia ixx="0" ixy="0" ixz="0" iyy="0" iyz="0" izz="0"/>
        </inertial>
        <visual>
            <origin xyz="0 0 0" rpy="0 0 0"/>
            <geometry>
                <box size="0.3901806440322565 0.02 1"/>
            </geometry>
        </visual>
        <collision>
            <origin xyz="0 0 0" rpy="0 0 0"/>
            <geometry>
                <box size="0.3901806440322565 0.02 1"/>
            </geometry>
        </collision>
    </link>
    <!-- Joint: hand_part_1, hand_part_1_sensor_0_left -->
    <joint name="hand_part_1_hand_part_1_sensor_0_left_joint" type="fixed">
        <parent link="hand_part_1"/>
        <child link="hand_part_1_sensor_0_left"/>
        <origin xyz="0 0.1 0"
                rpy="0 0 0"/>
        <axis xyz="0 1 0"/>
        
    </joint>


    <!-- hand_part_1_sensor_0_right -->
    <link name="hand_part_1_sensor_0_right">
        <inertial>
            <origin xyz="0 0 0" rpy="0 0 0"/>
            <mass value="0"/>
            <inertia ixx="0" ixy="0" ixz="0" iyy="0" iyz="0" izz="0"/>
        </inertial>
        <visual>
            <origin xyz="0 0 0" rpy="0 0 0"/>
            <geometry>
                <box size="0.3901806440322565 0.02 1"/>
            </geometry>
        </visual>
        <collision>
            <origin xyz="0 0 0" rpy="0 0 0"/>
            <geometry>
                <box size="0.3901806440322565 0.02 1"/>
            </geometry>
        </collision>
    </link>
    <!-- Joint: hand_part_1, hand_part_1_sensor_0_right -->
    <joint name="hand_part_1_hand_part_1_sensor_0_right_joint" type="fixed">
        <parent link="hand_part_1"/>
        <child link="hand_part_1_sensor_0_right"/>
        <origin xyz="0 -0.1 0"
                rpy="0 0 0"/>
        <axis xyz="0 1 0"/>
        
    </joint>
    <!-- Joint: wrist, hand_part_1 -->
    <joint name="wrist_hand_part_1_joint" type="fixed">
        <parent link="wrist"/>
        <child link="hand_part_1"/>
        <origin xyz="0.1253421659496574 0.3753302775178652 -0.5"
                rpy="0.5 0 -1.1780972450961724"/>
        <axis xyz="0 1 0"/>
        
    </joint>


    <!-- hand_part_2 -->
    <link name="hand_part_2">
        <inertial>
            <origin xyz="0 0 0" rpy="0 0 0"/>
            <mass value="2"/>
            <inertia ixx="0.2" ixy="0" ixz="0" iyy="0.2" iyz="0" izz="0.03"/>
        </inertial>
        <visual>
            <origin xyz="0 0 0" rpy="0 0 0"/>
            <geometry>
                <box size="0.3901806440322565 0.2 1"/>
            </geometry>
        </visual>
        <collision>
            <origin xyz="0 0 0" rpy="0 0 0"/>
            <geometry>
                <box size="0.3901806440322565 0.2 1"/>
            </geometry>
        </collision>
    </link>


    <!-- hand_part_2_sensor_0_top -->
    <link name="hand_part_2_sensor_0_top">
        <inertial>
            <origin xyz="0 0 0" rpy="0 0 0"/>
            <mass value="0"/>
            <inertia ixx="0" ixy="0" ixz="0" iyy="0" iyz="0" izz="0"/>
        </inertial>
        <visual>
            <origin xyz="0 0 0" rpy="0 0 0"/>
            <geometry>
                <box size="0.3901806440322565 0.2 0.02"/>
            </geometry>
        </visual>
        <collision>
            <origin xyz="0 0 0" rpy="0 0 0"/>
            <geometry>
                <box size="0.3901806440322565 0.2 0.02"/>
            </geometry>
        </collision>
    </link>
    <!-- Joint: hand_part_2, hand_part_2_sensor_0_top -->
    <joint name="hand_part_2_hand_part_2_sensor_0_top_joint" type="fixed">
        <parent link="hand_part_2"/>
        <child link="hand_part_2_sensor_0_top"/>
        <origin xyz="0 0 0.5"
                rpy="0 0 0"/>
        <axis xyz="0 1 0"/>
        
    </joint>


    <!-- hand_part_2_sensor_0_bottom -->
    <link name="hand_part_2_sensor_0_bottom">
        <inertial>
            <origin xyz="0 0 0" rpy="0 0 0"/>
            <mass value="0"/>
            <inertia ixx="0" ixy="0" ixz="0" iyy="0" iyz="0" izz="0"/>
        </inertial>
        <visual>
            <origin xyz="0 0 0" rpy="0 0 0"/>
            <geometry>
                <box size="0.3901806440322565 0.2 0.02"/>
            </geometry>
        </visual>
        <collision>
            <origin xyz="0 0 0" rpy="0 0 0"/>
            <geometry>
                <box size="0.3901806440322565 0.2 0.02"/>
            </geometry>
        </collision>
    </link>
    <!-- Joint: hand_part_2, hand_part_2_sensor_0_bottom -->
    <joint name="hand_part_2_hand_part_2_sensor_0_bottom_joint" type="fixed">
        <parent link="hand_part_2"/>
        <child link="hand_part_2_sensor_0_bottom"/>
        <origin xyz="0 0 -0.5"
                rpy="0 0 0"/>
        <axis xyz="0 1 0"/>
        
    </joint>


    <!-- hand_part_2_sensor_0_left -->
    <link name="hand_part_2_sensor_0_left">
        <inertial>
            <origin xyz="0 0 0" rpy="0 0 0"/>
            <mass value="0"/>
            <inertia ixx="0" ixy="0" ixz="0" iyy="0" iyz="0" izz="0"/>
        </inertial>
        <visual>
            <origin xyz="0 0 0" rpy="0 0 0"/>
            <geometry>
                <box size="0.3901806440322565 0.02 1"/>
            </geometry>
        </visual>
        <collision>
            <origin xyz="0 0 0" rpy="0 0 0"/>
            <geometry>
                <box size="0.3901806440322565 0.02 1"/>
            </geometry>
        </collision>
    </link>
    <!-- Joint: hand_part_2, hand_part_2_sensor_0_left -->
    <joint name="hand_part_2_hand_part_2_sensor_0_left_joint" type="fixed">
        <parent link="hand_part_2"/>
        <child link="hand_part_2_sensor_0_left"/>
        <origin xyz="0 0.1 0"
                rpy="0 0 0"/>
        <axis xyz="0 1 0"/>
        
    </joint>


    <!-- hand_part_2_sensor_0_right -->
    <link name="hand_part_2_sensor_0_right">
        <inertial>
            <origin xyz="0 0 0" rpy="0 0 0"/>
            <mass value="0"/>
            <inertia ixx="0" ixy="0" ixz="0" iyy="0" iyz="0" izz="0"/>
        </inertial>
        <visual>
            <origin xyz="0 0 0" rpy="0 0 0"/>
            <geometry>
                <box size="0.3901806440322565 0.02 1"/>
            </geometry>
        </visual>
        <collision>
            <origin xyz="0 0 0" rpy="0 0 0"/>
            <geometry>
                <box size="0.3901806440322565 0.02 1"/>
            </geometry>
        </collision>
    </link>
    <!-- Joint: hand_part_2, hand_part_2_sensor_0_right -->
    <joint name="hand_part_2_hand_part_2_sensor_0_right_joint" type="fixed">
        <parent link="hand_part_2"/>
        <child link="hand_part_2_sensor_0_right"/>
        <origin xyz="0 -0.1 0"
                rpy="0 0 0"/>
        <axis xyz="0 1 0"/>
        
    </joint>
    <!-- Joint: wrist, hand_part_2 -->
    <joint name="wrist_hand_part_2_joint" type="fixed">
        <parent link="wrist"/>
        <child link="hand_part_2"/>
        <origin xyz="-0.0872653577421566 0.6935199226610735 -0.5"
                rpy="0.5 0 -0.7853981633974483"/>
        <axis xyz="0 1 0"/>
        
    </joint>


    <!-- hand_part_3 -->
    <link name="hand_part_3">
        <inertial>
            <origin xyz="0 0 0" rpy="0 0 0"/>
            <mass value="2"/>
            <inertia ixx="0.2" ixy="0" ixz="0" iyy="0.2" iyz="0" izz="0.03"/>
        </inertial>
        <visual>
            <origin xyz="0 0 0" rpy="0 0 0"/>
            <geometry>
                <box size="0.3901806440322565 0.2 1"/>
            </geometry>
        </visual>
        <collision>
            <origin xyz="0 0 0" rpy="0 0 0"/>
            <geometry>
                <box size="0.3901806440322565 0.2 1"/>
            </geometry>
        </collision>
    </link>


    <!-- hand_part_3_sensor_0_top -->
    <link name="hand_part_3_sensor_0_top">
        <inertial>
            <origin xyz="0 0 0" rpy="0 0 0"/>
            <mass value="0"/>
            <inertia ixx="0" ixy="0" ixz="0" iyy="0" iyz="0" izz="0"/>
        </inertial>
        <visual>
            <origin xyz="0 0 0" rpy="0 0 0"/>
            <geometry>
                <box size="0.3901806440322565 0.2 0.02"/>
            </geometry>
        </visual>
        <collision>
            <origin xyz="0 0 0" rpy="0 0 0"/>
            <geometry>
                <box size="0.3901806440322565 0.2 0.02"/>
            </geometry>
        </collision>
    </link>
    <!-- Joint: hand_part_3, hand_part_3_sensor_0_top -->
    <joint name="hand_part_3_hand_part_3_sensor_0_top_joint" type="fixed">
        <parent link="hand_part_3"/>
        <child link="hand_part_3_sensor_0_top"/>
        <origin xyz="0 0 0.5"
                rpy="0 0 0"/>
        <axis xyz="0 1 0"/>
        
    </joint>


    <!-- hand_part_3_sensor_0_bottom -->
    <link name="hand_part_3_sensor_0_bottom">
        <inertial>
            <origin xyz="0 0 0" rpy="0 0 0"/>
            <mass value="0"/>
            <inertia ixx="0" ixy="0" ixz="0" iyy="0" iyz="0" izz="0"/>
        </inertial>
        <visual>
            <origin xyz="0 0 0" rpy="0 0 0"/>
            <geometry>
                <box size="0.3901806440322565 0.2 0.02"/>
            </geometry>
        </visual>
        <collision>
            <origin xyz="0 0 0" rpy="0 0 0"/>
            <geometry>
                <box size="0.3901806440322565 0.2 0.02"/>
            </geometry>
        </collision>
    </link>
    <!-- Joint: hand_part_3, hand_part_3_sensor_0_bottom -->
    <joint name="hand_part_3_hand_part_3_sensor_0_bottom_joint" type="fixed">
        <parent link="hand_part_3"/>
        <child link="hand_part_3_sensor_0_bottom"/>
        <origin xyz="0 0 -0.5"
                rpy="0 0 0"/>
        <axis xyz="0 1 0"/>
        
    </joint>


    <!-- hand_part_3_sensor_0_left -->
    <link name="hand_part_3_sensor_0_left">
        <inertial>
            <origin xyz="0 0 0" rpy="0 0 0"/>
            <mass value="0"/>
            <inertia ixx="0" ixy="0" ixz="0" iyy="0" iyz="0" izz="0"/>
        </inertial>
        <visual>
            <origin xyz="0 0 0" rpy="0 0 0"/>
            <geometry>
                <box size="0.3901806440322565 0.02 1"/>
            </geometry>
        </visual>
        <collision>
            <origin xyz="0 0 0" rpy="0 0 0"/>
            <geometry>
                <box size="0.3901806440322565 0.02 1"/>
            </geometry>
        </collision>
    </link>
    <!-- Joint: hand_part_3, hand_part_3_sensor_0_left -->
    <joint name="hand_part_3_hand_part_3_sensor_0_left_joint" type="fixed">
        <parent link="hand_part_3"/>
        <child link="hand_part_3_sensor_0_left"/>
        <origin xyz="0 0.1 0"
                rpy="0 0 0"/>
        <axis xyz="0 1 0"/>
        
    </joint>


    <!-- hand_part_3_sensor_0_right -->
    <link name="hand_part_3_sensor_0_right">
        <inertial>
            <origin xyz="0 0 0" rpy="0 0 0"/>
            <mass value="0"/>
            <inertia ixx="0" ixy="0" ixz="0" iyy="0" iyz="0" izz="0"/>
        </inertial>
        <visual>
            <origin xyz="0 0 0" rpy="0 0 0"/>
            <geometry>
                <box size="0.3901806440322565 0.02 1"/>
            </geometry>
        </visual>
        <collision>
            <origin xyz="0 0 0" rpy="0 0 0"/>
            <geometry>
                <box size="0.3901806440322565 0.02 1"/>
            </geometry>
        </collision>
    </link>
    <!-- Joint: hand_part_3, hand_part_3_sensor_0_right -->
    <joint name="hand_part_3_hand_part_3_sensor_0_right_joint" type="fixed">
        <parent link="hand_part_3"/>
        <child link="hand_part_3_sensor_0_right"/>
        <origin xyz="0 -0.1 0"
                rpy="0 0 0"/>
        <axis xyz="0 1 0"/>
        
    </joint>
    <!-- Joint: wrist, hand_part_3 -->
    <joint name="wrist_hand_part_3_joint" type="fixed">
        <parent link="wrist"/>
        <child link="hand_part_3"/>
        <origin xyz="-0.405455002885365 0.9061274463528877 -0.5"
                rpy="0.5 0 -0.39269908169872414"/>
        <axis xyz="0 1 0"/>
        
    </joint>


    <!-- hand_part_4 -->
    <link name="hand_part_4">
        <inertial>
            <origin xyz="0 0 0" rpy="0 0 0"/>
            <mass value="2"/>
            <inertia ixx="0.2" ixy="0" ixz="0" iyy="0.2" iyz="0" izz="0.03"/>
        </inertial>
        <visual>
            <origin xyz="0 0 0" rpy="0 0 0"/>
            <geometry>
                <box size="0.3901806440322565 0.2 1"/>
            </geometry>
        </visual>
        <collision>
            <origin xyz="0 0 0" rpy="0 0 0"/>
            <geometry>
                <box size="0.3901806440322565 0.2 1"/>
            </geometry>
        </collision>
    </link>


    <!-- hand_part_4_sensor_0_top -->
    <link name="hand_part_4_sensor_0_top">
        <inertial>
            <origin xyz="0 0 0" rpy="0 0 0"/>
            <mass value="0"/>
            <inertia ixx="0" ixy="0" ixz="0" iyy="0" iyz="0" izz="0"/>
        </inertial>
        <visual>
            <origin xyz="0 0 0" rpy="0 0 0"/>
            <geometry>
                <box size="0.3901806440322565 0.2 0.02"/>
            </geometry>
        </visual>
        <collision>
            <origin xyz="0 0 0" rpy="0 0 0"/>
            <geometry>
                <box size="0.3901806440322565 0.2 0.02"/>
            </geometry>
        </collision>
    </link>
    <!-- Joint: hand_part_4, hand_part_4_sensor_0_top -->
    <joint name="hand_part_4_hand_part_4_sensor_0_top_joint" type="fixed">
        <parent link="hand_part_4"/>
        <child link="hand_part_4_sensor_0_top"/>
        <origin xyz="0 0 0.5"
                rpy="0 0 0"/>
        <axis xyz="0 1 0"/>
        
    </joint>


    <!-- hand_part_4_sensor_0_bottom -->
    <link name="hand_part_4_sensor_0_bottom">
        <inertial>
            <origin xyz="0 0 0" rpy="0 0 0"/>
            <mass value="0"/>
            <inertia ixx="0" ixy="0" ixz="0" iyy="0" iyz="0" izz="0"/>
        </inertial>
        <visual>
            <origin xyz="0 0 0" rpy="0 0 0"/>
            <geometry>
                <box size="0.3901806440322565 0.2 0.02"/>
            </geometry>
        </visual>
        <collision>
            <origin xyz="0 0 0" rpy="0 0 0"/>
            <geometry>
                <box size="0.3901806440322565 0.2 0.02"/>
            </geometry>
        </collision>
    </link>
    <!-- Joint: hand_part_4, hand_part_4_sensor_0_bottom -->
    <joint name="hand_part_4_hand_part_4_sensor_0_bottom_joint" type="fixed">
        <parent link="hand_part_4"/>
        <child link="hand_part_4_sensor_0_bottom"/>
        <origin xyz="0 0 -0.5"
                rpy="0 0 0"/>
        <axis xyz="0 1 0"/>
        
    </joint>


    <!-- hand_part_4_sensor_0_left -->
    <link name="hand_part_4_sensor_0_left">
        <inertial>
            <origin xyz="0 0 0" rpy="0 0 0"/>
            <mass value="0"/>
            <inertia ixx="0" ixy="0" ixz="0" iyy="0" iyz="0" izz="0"/>
        </inertial>
        <visual>
            <origin xyz="0 0 0" rpy="0 0 0"/>
            <geometry>
                <box size="0.3901806440322565 0.02 1"/>
            </geometry>
        </visual>
        <collision>
            <origin xyz="0 0 0" rpy="0 0 0"/>
            <geometry>
                <box size="0.3901806440322565 0.02 1"/>
            </geometry>
        </collision>
    </link>
    <!-- Joint: hand_part_4, hand_part_4_sensor_0_left -->
    <joint name="hand_part_4_hand_part_4_sensor_0_left_joint" type="fixed">
        <parent link="hand_part_4"/>
        <child link="hand_part_4_sensor_0_left"/>
        <origin xyz="0 0.1 0"
                rpy="0 0 0"/>
        <axis xyz="0 1 0"/>
        
    </joint>


    <!-- hand_part_4_sensor_0_right -->
    <link name="hand_part_4_sensor_0_right">
        <inertial>
            <origin xyz="0 0 0" rpy="0 0 0"/>
            <mass value="0"/>
            <inertia ixx="0" ixy="0" ixz="0" iyy="0" iyz="0" izz="0"/>
        </inertial>
        <visual>
            <origin xyz="0 0 0" rpy="0 0 0"/>
            <geometry>
                <box size="0.3901806440322565 0.02 1"/>
            </geometry>
        </visual>
        <collision>
            <origin xyz="0 0 0" rpy="0 0 0"/>
            <geometry>
                <box size="0.3901806440322565 0.02 1"/>
            </geometry>
        </collision>
    </link>
    <!-- Joint: hand_part_4, hand_part_4_sensor_0_right -->
    <joint name="hand_part_4_hand_part_4_sensor_0_right_joint" type="fixed">
        <parent link="hand_part_4"/>
        <child link="hand_part_4_sensor_0_right"/>
        <origin xyz="0 -0.1 0"
                rpy="0 0 0"/>
        <axis xyz="0 1 0"/>
        
    </joint>
    <!-- Joint: wrist, hand_part_4 -->
    <joint name="wrist_hand_part_4_joint" type="fixed">
        <parent link="wrist"/>
        <child link="hand_part_4"/>
        <origin xyz="-0.7807852804032303 0.9807852804032303 -0.5"
                rpy="0.5 0 0.0"/>
        <axis xyz="0 1 0"/>
        
    </joint>


    <!-- hand_part_5 -->
    <link name="hand_part_5">
        <inertial>
            <origin xyz="0 0 0" rpy="0 0 0"/>
            <mass value="2"/>
            <inertia ixx="0.2" ixy="0" ixz="0" iyy="0.2" iyz="0" izz="0.03"/>
        </inertial>
        <visual>
            <origin xyz="0 0 0" rpy="0 0 0"/>
            <geometry>
                <box size="0.3901806440322565 0.2 1"/>
            </geometry>
        </visual>
        <collision>
            <origin xyz="0 0 0" rpy="0 0 0"/>
            <geometry>
                <box size="0.3901806440322565 0.2 1"/>
            </geometry>
        </collision>
    </link>


    <!-- hand_part_5_sensor_0_stop -->
    <link name="hand_part_5_sensor_0_stop">
        <inertial>
            <origin xyz="0 0 0" rpy="0 0 0"/>
            <mass value="0"/>
            <inertia ixx="0" ixy="0" ixz="0" iyy="0" iyz="0" izz="0"/>
        </inertial>
        <visual>
            <origin xyz="0 0 0" rpy="0 0 0"/>
            <geometry>
                <box size="0.02 0.2 1"/>
            </geometry>
        </visual>
        <collision>
            <origin xyz="0 0 0" rpy="0 0 0"/>
            <geometry>
                <box size="0.02 0.2 1"/>
            </geometry>
        </collision>
    </link>
    <!-- Joint: hand_part_5, hand_part_5_sensor_0_stop -->
    <joint name="hand_part_5_hand_part_5_sensor_0_stop_joint" type="fixed">
        <parent link="hand_part_5"/>
        <child link="hand_part_5_sensor_0_stop"/>
        <origin xyz="-0.19509032201612825 0 0"
                rpy="0 0 0"/>
        <axis xyz="0 1 0"/>
        
    </joint>


    <!-- hand_part_5_sensor_0_top -->
    <link name="hand_part_5_sensor_0_top">
        <inertial>
            <origin xyz="0 0 0" rpy="0 0 0"/>
            <mass value="0"/>
            <inertia ixx="0" ixy="0" ixz="0" iyy="0" iyz="0" izz="0"/>
        </inertial>
        <visual>
            <origin xyz="0 0 0" rpy="0 0 0"/>
            <geometry>
                <box size="0.3901806440322565 0.2 0.02"/>
            </geometry>
        </visual>
        <collision>
            <origin xyz="0 0 0" rpy="0 0 0"/>
            <geometry>
                <box size="0.3901806440322565 0.2 0.02"/>
            </geometry>
        </collision>
    </link>
    <!-- Joint: hand_part_5, hand_part_5_sensor_0_top -->
    <joint name="hand_part_5_hand_part_5_sensor_0_top_joint" type="fixed">
        <parent link="hand_part_5"/>
        <child link="hand_part_5_sensor_0_top"/>
        <origin xyz="0 0 0.5"
                rpy="0 0 0"/>
        <axis xyz="0 1 0"/>
        
    </joint>


    <!-- hand_part_5_sensor_0_bottom -->
    <link name="hand_part_5_sensor_0_bottom">
        <inertial>
            <origin xyz="0 0 0" rpy="0 0 0"/>
            <mass value="0"/>
            <inertia ixx="0" ixy="0" ixz="0" iyy="0" iyz="0" izz="0"/>
        </inertial>
        <visual>
            <origin xyz="0 0 0" rpy="0 0 0"/>
            <geometry>
                <box size="0.3901806440322565 0.2 0.02"/>
            </geometry>
        </visual>
        <collision>
            <origin xyz="0 0 0" rpy="0 0 0"/>
            <geometry>
                <box size="0.3901806440322565 0.2 0.02"/>
            </geometry>
        </collision>
    </link>
    <!-- Joint: hand_part_5, hand_part_5_sensor_0_bottom -->
    <joint name="hand_part_5_hand_part_5_sensor_0_bottom_joint" type="fixed">
        <parent link="hand_part_5"/>
        <child link="hand_part_5_sensor_0_bottom"/>
        <origin xyz="0 0 -0.5"
                rpy="0 0 0"/>
        <axis xyz="0 1 0"/>
        
    </joint>


    <!-- hand_part_5_sensor_0_left -->
    <link name="hand_part_5_sensor_0_left">
        <inertial>
            <origin xyz="0 0 0" rpy="0 0 0"/>
            <mass value="0"/>
            <inertia ixx="0" ixy="0" ixz="0" iyy="0" iyz="0" izz="0"/>
        </inertial>
        <visual>
            <origin xyz="0 0 0" rpy="0 0 0"/>
            <geometry>
                <box size="0.3901806440322565 0.02 1"/>
            </geometry>
        </visual>
        <collision>
            <origin xyz="0 0 0" rpy="0 0 0"/>
            <geometry>
                <box size="0.3901806440322565 0.02 1"/>
            </geometry>
        </collision>
    </link>
    <!-- Joint: hand_part_5, hand_part_5_sensor_0_left -->
    <joint name="hand_part_5_hand_part_5_sensor_0_left_joint" type="fixed">
        <parent link="hand_part_5"/>
        <child link="hand_part_5_sensor_0_left"/>
        <origin xyz="0 0.1 0"
                rpy="0 0 0"/>
        <axis xyz="0 1 0"/>
        
    </joint>


    <!-- hand_part_5_sensor_0_right -->
    <link name="hand_part_5_sensor_0_right">
        <inertial>
            <origin xyz="0 0 0" rpy="0 0 0"/>
            <mass value="0"/>
            <inertia ixx="0" ixy="0" ixz="0" iyy="0" iyz="0" izz="0"/>
        </inertial>
        <visual>
            <origin xyz="0 0 0" rpy="0 0 0"/>
            <geometry>
                <box size="0.3901806440322565 0.02 1"/>
            </geometry>
        </visual>
        <collision>
            <origin xyz="0 0 0" rpy="0 0 0"/>
            <geometry>
                <box size="0.3901806440322565 0.02 1"/>
            </geometry>
        </collision>
    </link>
    <!-- Joint: hand_part_5, hand_part_5_sensor_0_right -->
    <joint name="hand_part_5_hand_part_5_sensor_0_right_joint" type="fixed">
        <parent link="hand_part_5"/>
        <child link="hand_part_5_sensor_0_right"/>
        <origin xyz="0 -0.1 0"
                rpy="0 0 0"/>
        <axis xyz="0 1 0"/>
        
    </joint>
    <!-- Joint: wrist, hand_part_5 -->
    <joint name="wrist_hand_part_5_joint" type="fixed">
        <parent link="wrist"/>
        <child link="hand_part_5"/>
        <origin xyz="-1.1561155579210953 0.9061274463528877 -0.5"
                rpy="0.5 0 0.39269908169872414"/>
        <axis xyz="0 1 0"/>
        
    </joint>


    <!-- hand_part_11 -->
    <link name="hand_part_11">
        <inertial>
            <origin xyz="0 0 0" rpy="0 0 0"/>
            <mass value="2"/>
            <inertia ixx="0.2" ixy="0" ixz="0" iyy="0.2" iyz="0" izz="0.03"/>
        </inertial>
        <visual>
            <origin xyz="0 0 0" rpy="0 0 0"/>
            <geometry>
                <box size="0.3901806440322565 0.2 1"/>
            </geometry>
        </visual>
        <collision>
            <origin xyz="0 0 0" rpy="0 0 0"/>
            <geometry>
                <box size="0.3901806440322565 0.2 1"/>
            </geometry>
        </collision>
    </link>


    <!-- hand_part_11_sensor_0_start -->
    <link name="hand_part_11_sensor_0_start">
        <inertial>
            <origin xyz="0 0 0" rpy="0 0 0"/>
            <mass value="0"/>
            <inertia ixx="0" ixy="0" ixz="0" iyy="0" iyz="0" izz="0"/>
        </inertial>
        <visual>
            <origin xyz="0 0 0" rpy="0 0 0"/>
            <geometry>
                <box size="0.02 0.2 1"/>
            </geometry>
        </visual>
        <collision>
            <origin xyz="0 0 0" rpy="0 0 0"/>
            <geometry>
                <box size="0.02 0.2 1"/>
            </geometry>
        </collision>
    </link>
    <!-- Joint: hand_part_11, hand_part_11_sensor_0_start -->
    <joint name="hand_part_11_hand_part_11_sensor_0_start_joint" type="fixed">
        <parent link="hand_part_11"/>
        <child link="hand_part_11_sensor_0_start"/>
        <origin xyz="0.19509032201612825 0 0"
                rpy="0 0 0"/>
        <axis xyz="0 1 0"/>
        
    </joint>


    <!-- hand_part_11_sensor_0_top -->
    <link name="hand_part_11_sensor_0_top">
        <inertial>
            <origin xyz="0 0 0" rpy="0 0 0"/>
            <mass value="0"/>
            <inertia ixx="0" ixy="0" ixz="0" iyy="0" iyz="0" izz="0"/>
        </inertial>
        <visual>
            <origin xyz="0 0 0" rpy="0 0 0"/>
            <geometry>
                <box size="0.3901806440322565 0.2 0.02"/>
            </geometry>
        </visual>
        <collision>
            <origin xyz="0 0 0" rpy="0 0 0"/>
            <geometry>
                <box size="0.3901806440322565 0.2 0.02"/>
            </geometry>
        </collision>
    </link>
    <!-- Joint: hand_part_11, hand_part_11_sensor_0_top -->
    <joint name="hand_part_11_hand_part_11_sensor_0_top_joint" type="fixed">
        <parent link="hand_part_11"/>
        <child link="hand_part_11_sensor_0_top"/>
        <origin xyz="0 0 0.5"
                rpy="0 0 0"/>
        <axis xyz="0 1 0"/>
        
    </joint>


    <!-- hand_part_11_sensor_0_bottom -->
    <link name="hand_part_11_sensor_0_bottom">
        <inertial>
            <origin xyz="0 0 0" rpy="0 0 0"/>
            <mass value="0"/>
            <inertia ixx="0" ixy="0" ixz="0" iyy="0" iyz="0" izz="0"/>
        </inertial>
        <visual>
            <origin xyz="0 0 0" rpy="0 0 0"/>
            <geometry>
                <box size="0.3901806440322565 0.2 0.02"/>
            </geometry>
        </visual>
        <collision>
            <origin xyz="0 0 0" rpy="0 0 0"/>
            <geometry>
                <box size="0.3901806440322565 0.2 0.02"/>
            </geometry>
        </collision>
    </link>
    <!-- Joint: hand_part_11, hand_part_11_sensor_0_bottom -->
    <joint name="hand_part_11_hand_part_11_sensor_0_bottom_joint" type="fixed">
        <parent link="hand_part_11"/>
        <child link="hand_part_11_sensor_0_bottom"/>
        <origin xyz="0 0 -0.5"
                rpy="0 0 0"/>
        <axis xyz="0 1 0"/>
        
    </joint>


    <!-- hand_part_11_sensor_0_left -->
    <link name="hand_part_11_sensor_0_left">
        <inertial>
            <origin xyz="0 0 0" rpy="0 0 0"/>
            <mass value="0"/>
            <inertia ixx="0" ixy="0" ixz="0" iyy="0" iyz="0" izz="0"/>
        </inertial>
        <visual>
            <origin xyz="0 0 0" rpy="0 0 0"/>
            <geometry>
                <box size="0.3901806440322565 0.02 1"/>
            </geometry>
        </visual>
        <collision>
            <origin xyz="0 0 0" rpy="0 0 0"/>
            <geometry>
                <box size="0.3901806440322565 0.02 1"/>
            </geometry>
        </collision>
    </link>
    <!-- Joint: hand_part_11, hand_part_11_sensor_0_left -->
    <joint name="hand_part_11_hand_part_11_sensor_0_left_joint" type="fixed">
        <parent link="hand_part_11"/>
        <child link="hand_part_11_sensor_0_left"/>
        <origin xyz="0 0.1 0"
                rpy="0 0 0"/>
        <axis xyz="0 1 0"/>
        
    </joint>


    <!-- hand_part_11_sensor_0_right -->
    <link name="hand_part_11_sensor_0_right">
        <inertial>
            <origin xyz="0 0 0" rpy="0 0 0"/>
            <mass value="0"/>
            <inertia ixx="0" ixy="0" ixz="0" iyy="0" iyz="0" izz="0"/>
        </inertial>
        <visual>
            <origin xyz="0 0 0" rpy="0 0 0"/>
            <geometry>
                <box size="0.3901806440322565 0.02 1"/>
            </geometry>
        </visual>
        <collision>
            <origin xyz="0 0 0" rpy="0 0 0"/>
            <geometry>
                <box size="0.3901806440322565 0.02 1"/>
            </geometry>
        </collision>
    </link>
    <!-- Joint: hand_part_11, hand_part_11_sensor_0_right -->
    <joint name="hand_part_11_hand_part_11_sensor_0_right_joint" type="fixed">
        <parent link="hand_part_11"/>
        <child link="hand_part_11_sensor_0_right"/>
        <origin xyz="0 -0.1 0"
                rpy="0 0 0"/>
        <axis xyz="0 1 0"/>
        
    </joint>
    <!-- Joint: wrist, hand_part_11 -->
    <joint name="wrist_hand_part_11_joint" type="fixed">
        <parent link="wrist"/>
        <child link="hand_part_11"/>
        <origin xyz="-1.156115557921096 -0.9061274463528874 -0.5"
                rpy="0.5 0 2.7488935718910685"/>
        <axis xyz="0 1 0"/>
        
    </joint>


    <!-- hand_part_12 -->
    <link name="hand_part_12">
        <inertial>
            <origin xyz="0 0 0" rpy="0 0 0"/>
            <mass value="2"/>
            <inertia ixx="0.2" ixy="0" ixz="0" iyy="0.2" iyz="0" izz="0.03"/>
        </inertial>
        <visual>
            <origin xyz="0 0 0" rpy="0 0 0"/>
            <geometry>
                <box size="0.3901806440322565 0.2 1"/>
            </geometry>
        </visual>
        <collision>
            <origin xyz="0 0 0" rpy="0 0 0"/>
            <geometry>
                <box size="0.3901806440322565 0.2 1"/>
            </geometry>
        </collision>
    </link>


    <!-- hand_part_12_sensor_0_top -->
    <link name="hand_part_12_sensor_0_top">
        <inertial>
            <origin xyz="0 0 0" rpy="0 0 0"/>
            <mass value="0"/>
            <inertia ixx="0" ixy="0" ixz="0" iyy="0" iyz="0" izz="0"/>
        </inertial>
        <visual>
            <origin xyz="0 0 0" rpy="0 0 0"/>
            <geometry>
                <box size="0.3901806440322565 0.2 0.02"/>
            </geometry>
        </visual>
        <collision>
            <origin xyz="0 0 0" rpy="0 0 0"/>
            <geometry>
                <box size="0.3901806440322565 0.2 0.02"/>
            </geometry>
        </collision>
    </link>
    <!-- Joint: hand_part_12, hand_part_12_sensor_0_top -->
    <joint name="hand_part_12_hand_part_12_sensor_0_top_joint" type="fixed">
        <parent link="hand_part_12"/>
        <child link="hand_part_12_sensor_0_top"/>
        <origin xyz="0 0 0.5"
                rpy="0 0 0"/>
        <axis xyz="0 1 0"/>
        
    </joint>


    <!-- hand_part_12_sensor_0_bottom -->
    <link name="hand_part_12_sensor_0_bottom">
        <inertial>
            <origin xyz="0 0 0" rpy="0 0 0"/>
            <mass value="0"/>
            <inertia ixx="0" ixy="0" ixz="0" iyy="0" iyz="0" izz="0"/>
        </inertial>
        <visual>
            <origin xyz="0 0 0" rpy="0 0 0"/>
            <geometry>
                <box size="0.3901806440322565 0.2 0.02"/>
            </geometry>
        </visual>
        <collision>
            <origin xyz="0 0 0" rpy="0 0 0"/>
            <geometry>
                <box size="0.3901806440322565 0.2 0.02"/>
            </geometry>
        </collision>
    </link>
    <!-- Joint: hand_part_12, hand_part_12_sensor_0_bottom -->
    <joint name="hand_part_12_hand_part_12_sensor_0_bottom_joint" type="fixed">
        <parent link="hand_part_12"/>
        <child link="hand_part_12_sensor_0_bottom"/>
        <origin xyz="0 0 -0.5"
                rpy="0 0 0"/>
        <axis xyz="0 1 0"/>
        
    </joint>


    <!-- hand_part_12_sensor_0_left -->
    <link name="hand_part_12_sensor_0_left">
        <inertial>
            <origin xyz="0 0 0" rpy="0 0 0"/>
            <mass value="0"/>
            <inertia ixx="0" ixy="0" ixz="0" iyy="0" iyz="0" izz="0"/>
        </inertial>
        <visual>
            <origin xyz="0 0 0" rpy="0 0 0"/>
            <geometry>
                <box size="0.3901806440322565 0.02 1"/>
            </geometry>
        </visual>
        <collision>
            <origin xyz="0 0 0" rpy="0 0 0"/>
            <geometry>
                <box size="0.3901806440322565 0.02 1"/>
            </geometry>
        </collision>
    </link>
    <!-- Joint: hand_part_12, hand_part_12_sensor_0_left -->
    <joint name="hand_part_12_hand_part_12_sensor_0_left_joint" type="fixed">
        <parent link="hand_part_12"/>
        <child link="hand_part_12_sensor_0_left"/>
        <origin xyz="0 0.1 0"
                rpy="0 0 0"/>
        <axis xyz="0 1 0"/>
        
    </joint>


    <!-- hand_part_12_sensor_0_right -->
    <link name="hand_part_12_sensor_0_right">
        <inertial>
            <origin xyz="0 0 0" rpy="0 0 0"/>
            <mass value="0"/>
            <inertia ixx="0" ixy="0" ixz="0" iyy="0" iyz="0" izz="0"/>
        </inertial>
        <visual>
            <origin xyz="0 0 0" rpy="0 0 0"/>
            <geometry>
                <box size="0.3901806440322565 0.02 1"/>
            </geometry>
        </visual>
        <collision>
            <origin xyz="0 0 0" rpy="0 0 0"/>
            <geometry>
                <box size="0.3901806440322565 0.02 1"/>
            </geometry>
        </collision>
    </link>
    <!-- Joint: hand_part_12, hand_part_12_sensor_0_right -->
    <joint name="hand_part_12_hand_part_12_sensor_0_right_joint" type="fixed">
        <parent link="hand_part_12"/>
        <child link="hand_part_12_sensor_0_right"/>
        <origin xyz="0 -0.1 0"
                rpy="0 0 0"/>
        <axis xyz="0 1 0"/>
        
    </joint>
    <!-- Joint: wrist, hand_part_12 -->
    <joint name="wrist_hand_part_12_joint" type="fixed">
        <parent link="wrist"/>
        <child link="hand_part_12"/>
        <origin xyz="-0.7807852804032305 -0.9807852804032303 -0.5"
                rpy="0.5 0 3.141592653589793"/>
        <axis xyz="0 1 0"/>
        
    </joint>


    <!-- hand_part_13 -->
    <link name="hand_part_13">
        <inertial>
            <origin xyz="0 0 0" rpy="0 0 0"/>
            <mass value="2"/>
            <inertia ixx="0.2" ixy="0" ixz="0" iyy="0.2" iyz="0" izz="0.03"/>
        </inertial>
        <visual>
            <origin xyz="0 0 0" rpy="0 0 0"/>
            <geometry>
                <box size="0.3901806440322565 0.2 1"/>
            </geometry>
        </visual>
        <collision>
            <origin xyz="0 0 0" rpy="0 0 0"/>
            <geometry>
                <box size="0.3901806440322565 0.2 1"/>
            </geometry>
        </collision>
    </link>


    <!-- hand_part_13_sensor_0_top -->
    <link name="hand_part_13_sensor_0_top">
        <inertial>
            <origin xyz="0 0 0" rpy="0 0 0"/>
            <mass value="0"/>
            <inertia ixx="0" ixy="0" ixz="0" iyy="0" iyz="0" izz="0"/>
        </inertial>
        <visual>
            <origin xyz="0 0 0" rpy="0 0 0"/>
            <geometry>
                <box size="0.3901806440322565 0.2 0.02"/>
            </geometry>
        </visual>
        <collision>
            <origin xyz="0 0 0" rpy="0 0 0"/>
            <geometry>
                <box size="0.3901806440322565 0.2 0.02"/>
            </geometry>
        </collision>
    </link>
    <!-- Joint: hand_part_13, hand_part_13_sensor_0_top -->
    <joint name="hand_part_13_hand_part_13_sensor_0_top_joint" type="fixed">
        <parent link="hand_part_13"/>
        <child link="hand_part_13_sensor_0_top"/>
        <origin xyz="0 0 0.5"
                rpy="0 0 0"/>
        <axis xyz="0 1 0"/>
        
    </joint>


    <!-- hand_part_13_sensor_0_bottom -->
    <link name="hand_part_13_sensor_0_bottom">
        <inertial>
            <origin xyz="0 0 0" rpy="0 0 0"/>
            <mass value="0"/>
            <inertia ixx="0" ixy="0" ixz="0" iyy="0" iyz="0" izz="0"/>
        </inertial>
        <visual>
            <origin xyz="0 0 0" rpy="0 0 0"/>
            <geometry>
                <box size="0.3901806440322565 0.2 0.02"/>
            </geometry>
        </visual>
        <collision>
            <origin xyz="0 0 0" rpy="0 0 0"/>
            <geometry>
                <box size="0.3901806440322565 0.2 0.02"/>
            </geometry>
        </collision>
    </link>
    <!-- Joint: hand_part_13, hand_part_13_sensor_0_bottom -->
    <joint name="hand_part_13_hand_part_13_sensor_0_bottom_joint" type="fixed">
        <parent link="hand_part_13"/>
        <child link="hand_part_13_sensor_0_bottom"/>
        <origin xyz="0 0 -0.5"
                rpy="0 0 0"/>
        <axis xyz="0 1 0"/>
        
    </joint>


    <!-- hand_part_13_sensor_0_left -->
    <link name="hand_part_13_sensor_0_left">
        <inertial>
            <origin xyz="0 0 0" rpy="0 0 0"/>
            <mass value="0"/>
            <inertia ixx="0" ixy="0" ixz="0" iyy="0" iyz="0" izz="0"/>
        </inertial>
        <visual>
            <origin xyz="0 0 0" rpy="0 0 0"/>
            <geometry>
                <box size="0.3901806440322565 0.02 1"/>
            </geometry>
        </visual>
        <collision>
            <origin xyz="0 0 0" rpy="0 0 0"/>
            <geometry>
                <box size="0.3901806440322565 0.02 1"/>
            </geometry>
        </collision>
    </link>
    <!-- Joint: hand_part_13, hand_part_13_sensor_0_left -->
    <joint name="hand_part_13_hand_part_13_sensor_0_left_joint" type="fixed">
        <parent link="hand_part_13"/>
        <child link="hand_part_13_sensor_0_left"/>
        <origin xyz="0 0.1 0"
                rpy="0 0 0"/>
        <axis xyz="0 1 0"/>
        
    </joint>


    <!-- hand_part_13_sensor_0_right -->
    <link name="hand_part_13_sensor_0_right">
        <inertial>
            <origin xyz="0 0 0" rpy="0 0 0"/>
            <mass value="0"/>
            <inertia ixx="0" ixy="0" ixz="0" iyy="0" iyz="0" izz="0"/>
        </inertial>
        <visual>
            <origin xyz="0 0 0" rpy="0 0 0"/>
            <geometry>
                <box size="0.3901806440322565 0.02 1"/>
            </geometry>
        </visual>
        <collision>
            <origin xyz="0 0 0" rpy="0 0 0"/>
            <geometry>
                <box size="0.3901806440322565 0.02 1"/>
            </geometry>
        </collision>
    </link>
    <!-- Joint: hand_part_13, hand_part_13_sensor_0_right -->
    <joint name="hand_part_13_hand_part_13_sensor_0_right_joint" type="fixed">
        <parent link="hand_part_13"/>
        <child link="hand_part_13_sensor_0_right"/>
        <origin xyz="0 -0.1 0"
                rpy="0 0 0"/>
        <axis xyz="0 1 0"/>
        
    </joint>
    <!-- Joint: wrist, hand_part_13 -->
    <joint name="wrist_hand_part_13_joint" type="fixed">
        <parent link="wrist"/>
        <child link="hand_part_13"/>
        <origin xyz="-0.4054550028853648 -0.9061274463528876 -0.5"
                rpy="0.5 0 3.5342917352885177"/>
        <axis xyz="0 1 0"/>
        
    </joint>


    <!-- hand_part_14 -->
    <link name="hand_part_14">
        <inertial>
            <origin xyz="0 0 0" rpy="0 0 0"/>
            <mass value="2"/>
            <inertia ixx="0.2" ixy="0" ixz="0" iyy="0.2" iyz="0" izz="0.03"/>
        </inertial>
        <visual>
            <origin xyz="0 0 0" rpy="0 0 0"/>
            <geometry>
                <box size="0.3901806440322565 0.2 1"/>
            </geometry>
        </visual>
        <collision>
            <origin xyz="0 0 0" rpy="0 0 0"/>
            <geometry>
                <box size="0.3901806440322565 0.2 1"/>
            </geometry>
        </collision>
    </link>


    <!-- hand_part_14_sensor_0_top -->
    <link name="hand_part_14_sensor_0_top">
        <inertial>
            <origin xyz="0 0 0" rpy="0 0 0"/>
            <mass value="0"/>
            <inertia ixx="0" ixy="0" ixz="0" iyy="0" iyz="0" izz="0"/>
        </inertial>
        <visual>
            <origin xyz="0 0 0" rpy="0 0 0"/>
            <geometry>
                <box size="0.3901806440322565 0.2 0.02"/>
            </geometry>
        </visual>
        <collision>
            <origin xyz="0 0 0" rpy="0 0 0"/>
            <geometry>
                <box size="0.3901806440322565 0.2 0.02"/>
            </geometry>
        </collision>
    </link>
    <!-- Joint: hand_part_14, hand_part_14_sensor_0_top -->
    <joint name="hand_part_14_hand_part_14_sensor_0_top_joint" type="fixed">
        <parent link="hand_part_14"/>
        <child link="hand_part_14_sensor_0_top"/>
        <origin xyz="0 0 0.5"
                rpy="0 0 0"/>
        <axis xyz="0 1 0"/>
        
    </joint>


    <!-- hand_part_14_sensor_0_bottom -->
    <link name="hand_part_14_sensor_0_bottom">
        <inertial>
            <origin xyz="0 0 0" rpy="0 0 0"/>
            <mass value="0"/>
            <inertia ixx="0" ixy="0" ixz="0" iyy="0" iyz="0" izz="0"/>
        </inertial>
        <visual>
            <origin xyz="0 0 0" rpy="0 0 0"/>
            <geometry>
                <box size="0.3901806440322565 0.2 0.02"/>
            </geometry>
        </visual>
        <collision>
            <origin xyz="0 0 0" rpy="0 0 0"/>
            <geometry>
                <box size="0.3901806440322565 0.2 0.02"/>
            </geometry>
        </collision>
    </link>
    <!-- Joint: hand_part_14, hand_part_14_sensor_0_bottom -->
    <joint name="hand_part_14_hand_part_14_sensor_0_bottom_joint" type="fixed">
        <parent link="hand_part_14"/>
        <child link="hand_part_14_sensor_0_bottom"/>
        <origin xyz="0 0 -0.5"
                rpy="0 0 0"/>
        <axis xyz="0 1 0"/>
        
    </joint>


    <!-- hand_part_14_sensor_0_left -->
    <link name="hand_part_14_sensor_0_left">
        <inertial>
            <origin xyz="0 0 0" rpy="0 0 0"/>
            <mass value="0"/>
            <inertia ixx="0" ixy="0" ixz="0" iyy="0" iyz="0" izz="0"/>
        </inertial>
        <visual>
            <origin xyz="0 0 0" rpy="0 0 0"/>
            <geometry>
                <box size="0.3901806440322565 0.02 1"/>
            </geometry>
        </visual>
        <collision>
            <origin xyz="0 0 0" rpy="0 0 0"/>
            <geometry>
                <box size="0.3901806440322565 0.02 1"/>
            </geometry>
        </collision>
    </link>
    <!-- Joint: hand_part_14, hand_part_14_sensor_0_left -->
    <joint name="hand_part_14_hand_part_14_sensor_0_left_joint" type="fixed">
        <parent link="hand_part_14"/>
        <child link="hand_part_14_sensor_0_left"/>
        <origin xyz="0 0.1 0"
                rpy="0 0 0"/>
        <axis xyz="0 1 0"/>
        
    </joint>


    <!-- hand_part_14_sensor_0_right -->
    <link name="hand_part_14_sensor_0_right">
        <inertial>
            <origin xyz="0 0 0" rpy="0 0 0"/>
            <mass value="0"/>
            <inertia ixx="0" ixy="0" ixz="0" iyy="0" iyz="0" izz="0"/>
        </inertial>
        <visual>
            <origin xyz="0 0 0" rpy="0 0 0"/>
            <geometry>
                <box size="0.3901806440322565 0.02 1"/>
            </geometry>
        </visual>
        <collision>
            <origin xyz="0 0 0" rpy="0 0 0"/>
            <geometry>
                <box size="0.3901806440322565 0.02 1"/>
            </geometry>
        </collision>
    </link>
    <!-- Joint: hand_part_14, hand_part_14_sensor_0_right -->
    <joint name="hand_part_14_hand_part_14_sensor_0_right_joint" type="fixed">
        <parent link="hand_part_14"/>
        <child link="hand_part_14_sensor_0_right"/>
        <origin xyz="0 -0.1 0"
                rpy="0 0 0"/>
        <axis xyz="0 1 0"/>
        
    </joint>
    <!-- Joint: wrist, hand_part_14 -->
    <joint name="wrist_hand_part_14_joint" type="fixed">
        <parent link="wrist"/>
        <child link="hand_part_14"/>
        <origin xyz="-0.08726535774215682 -0.6935199226610738 -0.5"
                rpy="0.5 0 3.9269908169872414"/>
        <axis xyz="0 1 0"/>
        
    </joint>


    <!-- hand_part_15 -->
    <link name="hand_part_15">
        <inertial>
            <origin xyz="0 0 0" rpy="0 0 0"/>
            <mass value="2"/>
            <inertia ixx="0.2" ixy="0" ixz="0" iyy="0.2" iyz="0" izz="0.03"/>
        </inertial>
        <visual>
            <origin xyz="0 0 0" rpy="0 0 0"/>
            <geometry>
                <box size="0.3901806440322565 0.2 1"/>
            </geometry>
        </visual>
        <collision>
            <origin xyz="0 0 0" rpy="0 0 0"/>
            <geometry>
                <box size="0.3901806440322565 0.2 1"/>
            </geometry>
        </collision>
    </link>


    <!-- hand_part_15_sensor_0_top -->
    <link name="hand_part_15_sensor_0_top">
        <inertial>
            <origin xyz="0 0 0" rpy="0 0 0"/>
            <mass value="0"/>
            <inertia ixx="0" ixy="0" ixz="0" iyy="0" iyz="0" izz="0"/>
        </inertial>
        <visual>
            <origin xyz="0 0 0" rpy="0 0 0"/>
            <geometry>
                <box size="0.3901806440322565 0.2 0.02"/>
            </geometry>
        </visual>
        <collision>
            <origin xyz="0 0 0" rpy="0 0 0"/>
            <geometry>
                <box size="0.3901806440322565 0.2 0.02"/>
            </geometry>
        </collision>
    </link>
    <!-- Joint: hand_part_15, hand_part_15_sensor_0_top -->
    <joint name="hand_part_15_hand_part_15_sensor_0_top_joint" type="fixed">
        <parent link="hand_part_15"/>
        <child link="hand_part_15_sensor_0_top"/>
        <origin xyz="0 0 0.5"
                rpy="0 0 0"/>
        <axis xyz="0 1 0"/>
        
    </joint>


    <!-- hand_part_15_sensor_0_bottom -->
    <link name="hand_part_15_sensor_0_bottom">
        <inertial>
            <origin xyz="0 0 0" rpy="0 0 0"/>
            <mass value="0"/>
            <inertia ixx="0" ixy="0" ixz="0" iyy="0" iyz="0" izz="0"/>
        </inertial>
        <visual>
            <origin xyz="0 0 0" rpy="0 0 0"/>
            <geometry>
                <box size="0.3901806440322565 0.2 0.02"/>
            </geometry>
        </visual>
        <collision>
            <origin xyz="0 0 0" rpy="0 0 0"/>
            <geometry>
                <box size="0.3901806440322565 0.2 0.02"/>
            </geometry>
        </collision>
    </link>
    <!-- Joint: hand_part_15, hand_part_15_sensor_0_bottom -->
    <joint name="hand_part_15_hand_part_15_sensor_0_bottom_joint" type="fixed">
        <parent link="hand_part_15"/>
        <child link="hand_part_15_sensor_0_bottom"/>
        <origin xyz="0 0 -0.5"
                rpy="0 0 0"/>
        <axis xyz="0 1 0"/>
        
    </joint>


    <!-- hand_part_15_sensor_0_left -->
    <link name="hand_part_15_sensor_0_left">
        <inertial>
            <origin xyz="0 0 0" rpy="0 0 0"/>
            <mass value="0"/>
            <inertia ixx="0" ixy="0" ixz="0" iyy="0" iyz="0" izz="0"/>
        </inertial>
        <visual>
            <origin xyz="0 0 0" rpy="0 0 0"/>
            <geometry>
                <box size="0.3901806440322565 0.02 1"/>
            </geometry>
        </visual>
        <collision>
            <origin xyz="0 0 0" rpy="0 0 0"/>
            <geometry>
                <box size="0.3901806440322565 0.02 1"/>
            </geometry>
        </collision>
    </link>
    <!-- Joint: hand_part_15, hand_part_15_sensor_0_left -->
    <joint name="hand_part_15_hand_part_15_sensor_0_left_joint" type="fixed">
        <parent link="hand_part_15"/>
        <child link="hand_part_15_sensor_0_left"/>
        <origin xyz="0 0.1 0"
                rpy="0 0 0"/>
        <axis xyz="0 1 0"/>
        
    </joint>


    <!-- hand_part_15_sensor_0_right -->
    <link name="hand_part_15_sensor_0_right">
        <inertial>
            <origin xyz="0 0 0" rpy="0 0 0"/>
            <mass value="0"/>
            <inertia ixx="0" ixy="0" ixz="0" iyy="0" iyz="0" izz="0"/>
        </inertial>
        <visual>
            <origin xyz="0 0 0" rpy="0 0 0"/>
            <geometry>
                <box size="0.3901806440322565 0.02 1"/>
            </geometry>
        </visual>
        <collision>
            <origin xyz="0 0 0" rpy="0 0 0"/>
            <geometry>
                <box size="0.3901806440322565 0.02 1"/>
            </geometry>
        </collision>
    </link>
    <!-- Joint: hand_part_15, hand_part_15_sensor_0_right -->
    <joint name="hand_part_15_hand_part_15_sensor_0_right_joint" type="fixed">
        <parent link="hand_part_15"/>
        <child link="hand_part_15_sensor_0_right"/>
        <origin xyz="0 -0.1 0"
                rpy="0 0 0"/>
        <axis xyz="0 1 0"/>
        
    </joint>
    <!-- Joint: wrist, hand_part_15 -->
    <joint name="wrist_hand_part_15_joint" type="fixed">
        <parent link="wrist"/>
        <child link="hand_part_15"/>
        <origin xyz="0.1253421659496572 -0.3753302775178658 -0.5"
                rpy="0.5 0 4.319689898685965"/>
        <axis xyz="0 1 0"/>
        
    </joint>


    <!-- body_face_front_0 -->
    <link name="body_face_front_0">
        <inertial>
            <origin xyz="0 0 0" rpy="0 0 0"/>
            <mass value="0"/>
            <inertia ixx="0.05" ixy="0.05" ixz="0.05" iyy="0.05" iyz="0.05" izz="0.05"/>
        </inertial>
        <visual>
            <origin xyz="0 0 0" rpy="0 0 0"/>
            <geometry>
                <box size="0.002 0.1111111111111111 0.1111111111111111"/>
            </geometry>
        </visual>
        <collision>
            <origin xyz="0 0 0" rpy="0 0 0"/>
            <geometry>
                <box size="0.002 0.1111111111111111 0.1111111111111111"/>
            </geometry>
        </collision>
    </link>
    <!-- Joint: body, body_face_front_0 -->
    <joint name="body_body_face_front_0_joint" type="fixed">
        <parent link="body"/>
        <child link="body_face_front_0"/>
        <origin xyz="0.501 -0.33333333333333337 0.11111111111111116"
                rpy="0 0 0"/>
        <axis xyz="0 0 1"/>
        
    </joint>


    <!-- body_face_front_1 -->
    <link name="body_face_front_1">
        <inertial>
            <origin xyz="0 0 0" rpy="0 0 0"/>
            <mass value="0"/>
            <inertia ixx="0.05" ixy="0.05" ixz="0.05" iyy="0.05" iyz="0.05" izz="0.05"/>
        </inertial>
        <visual>
            <origin xyz="0 0 0" rpy="0 0 0"/>
            <geometry>
                <box size="0.002 0.1111111111111111 0.1111111111111111"/>
            </geometry>
        </visual>
        <collision>
            <origin xyz="0 0 0" rpy="0 0 0"/>
            <geometry>
                <box size="0.002 0.1111111111111111 0.1111111111111111"/>
            </geometry>
        </collision>
    </link>
    <!-- Joint: body, body_face_front_1 -->
    <joint name="body_body_face_front_1_joint" type="fixed">
        <parent link="body"/>
        <child link="body_face_front_1"/>
        <origin xyz="0.501 -0.2222222222222222 0.2222222222222222"
                rpy="0 0 0"/>
        <axis xyz="0 0 1"/>
        
    </joint>


    <!-- body_face_front_2 -->
    <link name="body_face_front_2">
        <inertial>
            <origin xyz="0 0 0" rpy="0 0 0"/>
            <mass value="0"/>
            <inertia ixx="0.05" ixy="0.05" ixz="0.05" iyy="0.05" iyz="0.05" izz="0.05"/>
        </inertial>
        <visual>
            <origin xyz="0 0 0" rpy="0 0 0"/>
            <geometry>
                <box size="0.002 0.1111111111111111 0.1111111111111111"/>
            </geometry>
        </visual>
        <collision>
            <origin xyz="0 0 0" rpy="0 0 0"/>
            <geometry>
                <box size="0.002 0.1111111111111111 0.1111111111111111"/>
            </geometry>
        </collision>
    </link>
    <!-- Joint: body, body_face_front_2 -->
    <joint name="body_body_face_front_2_joint" type="fixed">
        <parent link="body"/>
        <child link="body_face_front_2"/>
        <origin xyz="0.501 -0.1111111111111111 0.11111111111111116"
                rpy="0 0 0"/>
        <axis xyz="0 0 1"/>
        
    </joint>


    <!-- body_face_front_3 -->
    <link name="body_face_front_3">
        <inertial>
            <origin xyz="0 0 0" rpy="0 0 0"/>
            <mass value="0"/>
            <inertia ixx="0.05" ixy="0.05" ixz="0.05" iyy="0.05" iyz="0.05" izz="0.05"/>
        </inertial>
        <visual>
            <origin xyz="0 0 0" rpy="0 0 0"/>
            <geometry>
                <box size="0.002 0.1111111111111111 0.1111111111111111"/>
            </geometry>
        </visual>
        <collision>
            <origin xyz="0 0 0" rpy="0 0 0"/>
            <geometry>
                <box size="0.002 0.1111111111111111 0.1111111111111111"/>
            </geometry>
        </collision>
    </link>
    <!-- Joint: body, body_face_front_3 -->
    <joint name="body_body_face_front_3_joint" type="fixed">
        <parent link="body"/>
        <child link="body_face_front_3"/>
        <origin xyz="0.501 -0.1111111111111111 -0.2222222222222222"
                rpy="0 0 0"/>
        <axis xyz="0 0 1"/>
        
    </joint>


    <!-- body_face_front_4 -->
    <link name="body_face_front_4">
        <inertial>
            <origin xyz="0 0 0" rpy="0 0 0"/>
            <mass value="0"/>
            <inertia ixx="0.05" ixy="0.05" ixz="0.05" iyy="0.05" iyz="0.05" izz="0.05"/>
        </inertial>
        <visual>
            <origin xyz="0 0 0" rpy="0 0 0"/>
            <geometry>
                <box size="0.002 0.1111111111111111 0.1111111111111111"/>
            </geometry>
        </visual>
        <collision>
            <origin xyz="0 0 0" rpy="0 0 0"/>
            <geometry>
                <box size="0.002 0.1111111111111111 0.1111111111111111"/>
            </geometry>
        </collision>
    </link>
    <!-- Joint: body, body_face_front_4 -->
    <joint name="body_body_face_front_4_joint" type="fixed">
        <parent link="body"/>
        <child link="body_face_front_4"/>
        <origin xyz="0.501 0.0 -0.2222222222222222"
                rpy="0 0 0"/>
        <axis xyz="0 0 1"/>
        
    </joint>


    <!-- body_face_front_5 -->
    <link name="body_face_front_5">
        <inertial>
            <origin xyz="0 0 0" rpy="0 0 0"/>
            <mass value="0"/>
            <inertia ixx="0.05" ixy="0.05" ixz="0.05" iyy="0.05" iyz="0.05" izz="0.05"/>
        </inertial>
        <visual>
            <origin xyz="0 0 0" rpy="0 0 0"/>
            <geometry>
                <box size="0.002 0.1111111111111111 0.1111111111111111"/>
            </geometry>
        </visual>
        <collision>
            <origin xyz="0 0 0" rpy="0 0 0"/>
            <geometry>
                <box size="0.002 0.1111111111111111 0.1111111111111111"/>
            </geometry>
        </collision>
    </link>
    <!-- Joint: body, body_face_front_5 -->
    <joint name="body_body_face_front_5_joint" type="fixed">
        <parent link="body"/>
        <child link="body_face_front_5"/>
        <origin xyz="0.501 0.11111111111111116 0.11111111111111116"
                rpy="0 0 0"/>
        <axis xyz="0 0 1"/>
        
    </joint>


    <!-- body_face_front_6 -->
    <link name="body_face_front_6">
        <inertial>
            <origin xyz="0 0 0" rpy="0 0 0"/>
            <mass value="0"/>
            <inertia ixx="0.05" ixy="0.05" ixz="0.05" iyy="0.05" iyz="0.05" izz="0.05"/>
        </inertial>
        <visual>
            <origin xyz="0 0 0" rpy="0 0 0"/>
            <geometry>
                <box size="0.002 0.1111111111111111 0.1111111111111111"/>
            </geometry>
        </visual>
        <collision>
            <origin xyz="0 0 0" rpy="0 0 0"/>
            <geometry>
                <box size="0.002 0.1111111111111111 0.1111111111111111"/>
            </geometry>
        </collision>
    </link>
    <!-- Joint: body, body_face_front_6 -->
    <joint name="body_body_face_front_6_joint" type="fixed">
        <parent link="body"/>
        <child link="body_face_front_6"/>
        <origin xyz="0.501 0.11111111111111116 -0.2222222222222222"
                rpy="0 0 0"/>
        <axis xyz="0 0 1"/>
        
    </joint>


    <!-- body_face_front_7 -->
    <link name="body_face_front_7">
        <inertial>
            <origin xyz="0 0 0" rpy="0 0 0"/>
            <mass value="0"/>
            <inertia ixx="0.05" ixy="0.05" ixz="0.05" iyy="0.05" iyz="0.05" izz="0.05"/>
        </inertial>
        <visual>
            <origin xyz="0 0 0" rpy="0 0 0"/>
            <geometry>
                <box size="0.002 0.1111111111111111 0.1111111111111111"/>
            </geometry>
        </visual>
        <collision>
            <origin xyz="0 0 0" rpy="0 0 0"/>
            <geometry>
                <box size="0.002 0.1111111111111111 0.1111111111111111"/>
            </geometry>
        </collision>
    </link>
    <!-- Joint: body, body_face_front_7 -->
    <joint name="body_body_face_front_7_joint" type="fixed">
        <parent link="body"/>
        <child link="body_face_front_7"/>
        <origin xyz="0.501 0.2222222222222222 0.2222222222222222"
                rpy="0 0 0"/>
        <axis xyz="0 0 1"/>
        
    </joint>


    <!-- body_face_front_8 -->
    <link name="body_face_front_8">
        <inertial>
            <origin xyz="0 0 0" rpy="0 0 0"/>
            <mass value="0"/>
            <inertia ixx="0.05" ixy="0.05" ixz="0.05" iyy="0.05" iyz="0.05" izz="0.05"/>
        </inertial>
        <visual>
            <origin xyz="0 0 0" rpy="0 0 0"/>
            <geometry>
                <box size="0.002 0.1111111111111111 0.1111111111111111"/>
            </geometry>
        </visual>
        <collision>
            <origin xyz="0 0 0" rpy="0 0 0"/>
            <geometry>
                <box size="0.002 0.1111111111111111 0.1111111111111111"/>
            </geometry>
        </collision>
    </link>
    <!-- Joint: body, body_face_front_8 -->
    <joint name="body_body_face_front_8_joint" type="fixed">
        <parent link="body"/>
        <child link="body_face_front_8"/>
        <origin xyz="0.501 0.33333333333333337 0.11111111111111116"
                rpy="0 0 0"/>
        <axis xyz="0 0 1"/>
        
    </joint>


    <!-- body_face_top_0 -->
    <link name="body_face_top_0">
        <inertial>
            <origin xyz="0 0 0" rpy="0 0 0"/>
            <mass value="0"/>
            <inertia ixx="0.05" ixy="0.05" ixz="0.05" iyy="0.05" iyz="0.05" izz="0.05"/>
        </inertial>
        <visual>
            <origin xyz="0 0 0" rpy="0 0 0"/>
            <geometry>
                <box size="0.1111111111111111 0.1111111111111111 0.002"/>
            </geometry>
        </visual>
        <collision>
            <origin xyz="0 0 0" rpy="0 0 0"/>
            <geometry>
                <box size="0.1111111111111111 0.1111111111111111 0.002"/>
            </geometry>
        </collision>
    </link>
    <!-- Joint: body, body_face_top_0 -->
    <joint name="body_body_face_top_0_joint" type="fixed">
        <parent link="body"/>
        <child link="body_face_top_0"/>
        <origin xyz="0.11111111111111116 -0.2222222222222222 0.501"
                rpy="0 0 0"/>
        <axis xyz="0 0 1"/>
        
    </joint>


    <!-- body_face_top_1 -->
    <link name="body_face_top_1">
        <inertial>
            <origin xyz="0 0 0" rpy="0 0 0"/>
            <mass value="0"/>
            <inertia ixx="0.05" ixy="0.05" ixz="0.05" iyy="0.05" iyz="0.05" izz="0.05"/>
        </inertial>
        <visual>
            <origin xyz="0 0 0" rpy="0 0 0"/>
            <geometry>
                <box size="0.1111111111111111 0.1111111111111111 0.002"/>
            </geometry>
        </visual>
        <collision>
            <origin xyz="0 0 0" rpy="0 0 0"/>
            <geometry>
                <box size="0.1111111111111111 0.1111111111111111 0.002"/>
            </geometry>
        </collision>
    </link>
    <!-- Joint: body, body_face_top_1 -->
    <joint name="body_body_face_top_1_joint" type="fixed">
        <parent link="body"/>
        <child link="body_face_top_1"/>
        <origin xyz="0.11111111111111116 -0.1111111111111111 0.501"
                rpy="0 0 0"/>
        <axis xyz="0 0 1"/>
        
    </joint>


    <!-- body_face_top_2 -->
    <link name="body_face_top_2">
        <inertial>
            <origin xyz="0 0 0" rpy="0 0 0"/>
            <mass value="0"/>
            <inertia ixx="0.05" ixy="0.05" ixz="0.05" iyy="0.05" iyz="0.05" izz="0.05"/>
        </inertial>
        <visual>
            <origin xyz="0 0 0" rpy="0 0 0"/>
            <geometry>
                <box size="0.1111111111111111 0.1111111111111111 0.002"/>
            </geometry>
        </visual>
        <collision>
            <origin xyz="0 0 0" rpy="0 0 0"/>
            <geometry>
                <box size="0.1111111111111111 0.1111111111111111 0.002"/>
            </geometry>
        </collision>
    </link>
    <!-- Joint: body, body_face_top_2 -->
    <joint name="body_body_face_top_2_joint" type="fixed">
        <parent link="body"/>
        <child link="body_face_top_2"/>
        <origin xyz="0.2222222222222222 -0.1111111111111111 0.501"
                rpy="0 0 0"/>
        <axis xyz="0 0 1"/>
        
    </joint>


    <!-- body_face_top_3 -->
    <link name="body_face_top_3">
        <inertial>
            <origin xyz="0 0 0" rpy="0 0 0"/>
            <mass value="0"/>
            <inertia ixx="0.05" ixy="0.05" ixz="0.05" iyy="0.05" iyz="0.05" izz="0.05"/>
        </inertial>
        <visual>
            <origin xyz="0 0 0" rpy="0 0 0"/>
            <geometry>
                <box size="0.1111111111111111 0.1111111111111111 0.002"/>
            </geometry>
        </visual>
        <collision>
            <origin xyz="0 0 0" rpy="0 0 0"/>
            <geometry>
                <box size="0.1111111111111111 0.1111111111111111 0.002"/>
            </geometry>
        </collision>
    </link>
    <!-- Joint: body, body_face_top_3 -->
    <joint name="body_body_face_top_3_joint" type="fixed">
        <parent link="body"/>
        <child link="body_face_top_3"/>
        <origin xyz="-0.33333333333333337 0.0 0.501"
                rpy="0 0 0"/>
        <axis xyz="0 0 1"/>
        
    </joint>


    <!-- body_face_top_4 -->
    <link name="body_face_top_4">
        <inertial>
            <origin xyz="0 0 0" rpy="0 0 0"/>
            <mass value="0"/>
            <inertia ixx="0.05" ixy="0.05" ixz="0.05" iyy="0.05" iyz="0.05" izz="0.05"/>
        </inertial>
        <visual>
            <origin xyz="0 0 0" rpy="0 0 0"/>
            <geometry>
                <box size="0.1111111111111111 0.1111111111111111 0.002"/>
            </geometry>
        </visual>
        <collision>
            <origin xyz="0 0 0" rpy="0 0 0"/>
            <geometry>
                <box size="0.1111111111111111 0.1111111111111111 0.002"/>
            </geometry>
        </collision>
    </link>
    <!-- Joint: body, body_face_top_4 -->
    <joint name="body_body_face_top_4_joint" type="fixed">
        <parent link="body"/>
        <child link="body_face_top_4"/>
        <origin xyz="-0.2222222222222222 0.0 0.501"
                rpy="0 0 0"/>
        <axis xyz="0 0 1"/>
        
    </joint>


    <!-- body_face_top_5 -->
    <link name="body_face_top_5">
        <inertial>
            <origin xyz="0 0 0" rpy="0 0 0"/>
            <mass value="0"/>
            <inertia ixx="0.05" ixy="0.05" ixz="0.05" iyy="0.05" iyz="0.05" izz="0.05"/>
        </inertial>
        <visual>
            <origin xyz="0 0 0" rpy="0 0 0"/>
            <geometry>
                <box size="0.1111111111111111 0.1111111111111111 0.002"/>
            </geometry>
        </visual>
        <collision>
            <origin xyz="0 0 0" rpy="0 0 0"/>
            <geometry>
                <box size="0.1111111111111111 0.1111111111111111 0.002"/>
            </geometry>
        </collision>
    </link>
    <!-- Joint: body, body_face_top_5 -->
    <joint name="body_body_face_top_5_joint" type="fixed">
        <parent link="body"/>
        <child link="body_face_top_5"/>
        <origin xyz="-0.1111111111111111 0.0 0.501"
                rpy="0 0 0"/>
        <axis xyz="0 0 1"/>
        
    </joint>


    <!-- body_face_top_6 -->
    <link name="body_face_top_6">
        <inertial>
            <origin xyz="0 0 0" rpy="0 0 0"/>
            <mass value="0"/>
            <inertia ixx="0.05" ixy="0.05" ixz="0.05" iyy="0.05" iyz="0.05" izz="0.05"/>
        </inertial>
        <visual>
            <origin xyz="0 0 0" rpy="0 0 0"/>
            <geometry>
                <box size="0.1111111111111111 0.1111111111111111 0.002"/>
            </geometry>
        </visual>
        <collision>
            <origin xyz="0 0 0" rpy="0 0 0"/>
            <geometry>
                <box size="0.1111111111111111 0.1111111111111111 0.002"/>
            </geometry>
        </collision>
    </link>
    <!-- Joint: body, body_face_top_6 -->
    <joint name="body_body_face_top_6_joint" type="fixed">
        <parent link="body"/>
        <child link="body_face_top_6"/>
        <origin xyz="0.0 0.0 0.501"
                rpy="0 0 0"/>
        <axis xyz="0 0 1"/>
        
    </joint>


    <!-- body_face_top_7 -->
    <link name="body_face_top_7">
        <inertial>
            <origin xyz="0 0 0" rpy="0 0 0"/>
            <mass value="0"/>
            <inertia ixx="0.05" ixy="0.05" ixz="0.05" iyy="0.05" iyz="0.05" izz="0.05"/>
        </inertial>
        <visual>
            <origin xyz="0 0 0" rpy="0 0 0"/>
            <geometry>
                <box size="0.1111111111111111 0.1111111111111111 0.002"/>
            </geometry>
        </visual>
        <collision>
            <origin xyz="0 0 0" rpy="0 0 0"/>
            <geometry>
                <box size="0.1111111111111111 0.1111111111111111 0.002"/>
            </geometry>
        </collision>
    </link>
    <!-- Joint: body, body_face_top_7 -->
    <joint name="body_body_face_top_7_joint" type="fixed">
        <parent link="body"/>
        <child link="body_face_top_7"/>
        <origin xyz="0.11111111111111116 0.0 0.501"
                rpy="0 0 0"/>
        <axis xyz="0 0 1"/>
        
    </joint>


    <!-- body_face_top_8 -->
    <link name="body_face_top_8">
        <inertial>
            <origin xyz="0 0 0" rpy="0 0 0"/>
            <mass value="0"/>
            <inertia ixx="0.05" ixy="0.05" ixz="0.05" iyy="0.05" iyz="0.05" izz="0.05"/>
        </inertial>
        <visual>
            <origin xyz="0 0 0" rpy="0 0 0"/>
            <geometry>
                <box size="0.1111111111111111 0.1111111111111111 0.002"/>
            </geometry>
        </visual>
        <collision>
            <origin xyz="0 0 0" rpy="0 0 0"/>
            <geometry>
                <box size="0.1111111111111111 0.1111111111111111 0.002"/>
            </geometry>
        </collision>
    </link>
    <!-- Joint: body, body_face_top_8 -->
    <joint name="body_body_face_top_8_joint" type="fixed">
        <parent link="body"/>
        <child link="body_face_top_8"/>
        <origin xyz="0.2222222222222222 0.0 0.501"
                rpy="0 0 0"/>
        <axis xyz="0 0 1"/>
        
    </joint>


    <!-- body_face_top_9 -->
    <link name="body_face_top_9">
        <inertial>
            <origin xyz="0 0 0" rpy="0 0 0"/>
            <mass value="0"/>
            <inertia ixx="0.05" ixy="0.05" ixz="0.05" iyy="0.05" iyz="0.05" izz="0.05"/>
        </inertial>
        <visual>
            <origin xyz="0 0 0" rpy="0 0 0"/>
            <geometry>
                <box size="0.1111111111111111 0.1111111111111111 0.002"/>
            </geometry>
        </visual>
        <collision>
            <origin xyz="0 0 0" rpy="0 0 0"/>
            <geometry>
                <box size="0.1111111111111111 0.1111111111111111 0.002"/>
            </geometry>
        </collision>
    </link>
    <!-- Joint: body, body_face_top_9 -->
    <joint name="body_body_face_top_9_joint" type="fixed">
        <parent link="body"/>
        <child link="body_face_top_9"/>
        <origin xyz="0.33333333333333337 0.0 0.501"
                rpy="0 0 0"/>
        <axis xyz="0 0 1"/>
        
    </joint>


    <!-- body_face_top_10 -->
    <link name="body_face_top_10">
        <inertial>
            <origin xyz="0 0 0" rpy="0 0 0"/>
            <mass value="0"/>
            <inertia ixx="0.05" ixy="0.05" ixz="0.05" iyy="0.05" iyz="0.05" izz="0.05"/>
        </inertial>
        <visual>
            <origin xyz="0 0 0" rpy="0 0 0"/>
            <geometry>
                <box size="0.1111111111111111 0.1111111111111111 0.002"/>
            </geometry>
        </visual>
        <collision>
            <origin xyz="0 0 0" rpy="0 0 0"/>
            <geometry>
                <box size="0.1111111111111111 0.1111111111111111 0.002"/>
            </geometry>
        </collision>
    </link>
    <!-- Joint: body, body_face_top_10 -->
    <joint name="body_body_face_top_10_joint" type="fixed">
        <parent link="body"/>
        <child link="body_face_top_10"/>
        <origin xyz="0.11111111111111116 0.11111111111111116 0.501"
                rpy="0 0 0"/>
        <axis xyz="0 0 1"/>
        
    </joint>


    <!-- body_face_top_11 -->
    <link name="body_face_top_11">
        <inertial>
            <origin xyz="0 0 0" rpy="0 0 0"/>
            <mass value="0"/>
            <inertia ixx="0.05" ixy="0.05" ixz="0.05" iyy="0.05" iyz="0.05" izz="0.05"/>
        </inertial>
        <visual>
            <origin xyz="0 0 0" rpy="0 0 0"/>
            <geometry>
                <box size="0.1111111111111111 0.1111111111111111 0.002"/>
            </geometry>
        </visual>
        <collision>
            <origin xyz="0 0 0" rpy="0 0 0"/>
            <geometry>
                <box size="0.1111111111111111 0.1111111111111111 0.002"/>
            </geometry>
        </collision>
    </link>
    <!-- Joint: body, body_face_top_11 -->
    <joint name="body_body_face_top_11_joint" type="fixed">
        <parent link="body"/>
        <child link="body_face_top_11"/>
        <origin xyz="0.2222222222222222 0.11111111111111116 0.501"
                rpy="0 0 0"/>
        <axis xyz="0 0 1"/>
        
    </joint>


    <!-- body_face_top_12 -->
    <link name="body_face_top_12">
        <inertial>
            <origin xyz="0 0 0" rpy="0 0 0"/>
            <mass value="0"/>
            <inertia ixx="0.05" ixy="0.05" ixz="0.05" iyy="0.05" iyz="0.05" izz="0.05"/>
        </inertial>
        <visual>
            <origin xyz="0 0 0" rpy="0 0 0"/>
            <geometry>
                <box size="0.1111111111111111 0.1111111111111111 0.002"/>
            </geometry>
        </visual>
        <collision>
            <origin xyz="0 0 0" rpy="0 0 0"/>
            <geometry>
                <box size="0.1111111111111111 0.1111111111111111 0.002"/>
            </geometry>
        </collision>
    </link>
    <!-- Joint: body, body_face_top_12 -->
    <joint name="body_body_face_top_12_joint" type="fixed">
        <parent link="body"/>
        <child link="body_face_top_12"/>
        <origin xyz="0.11111111111111116 0.2222222222222222 0.501"
                rpy="0 0 0"/>
        <axis xyz="0 0 1"/>
        
    </joint>


</robot>
